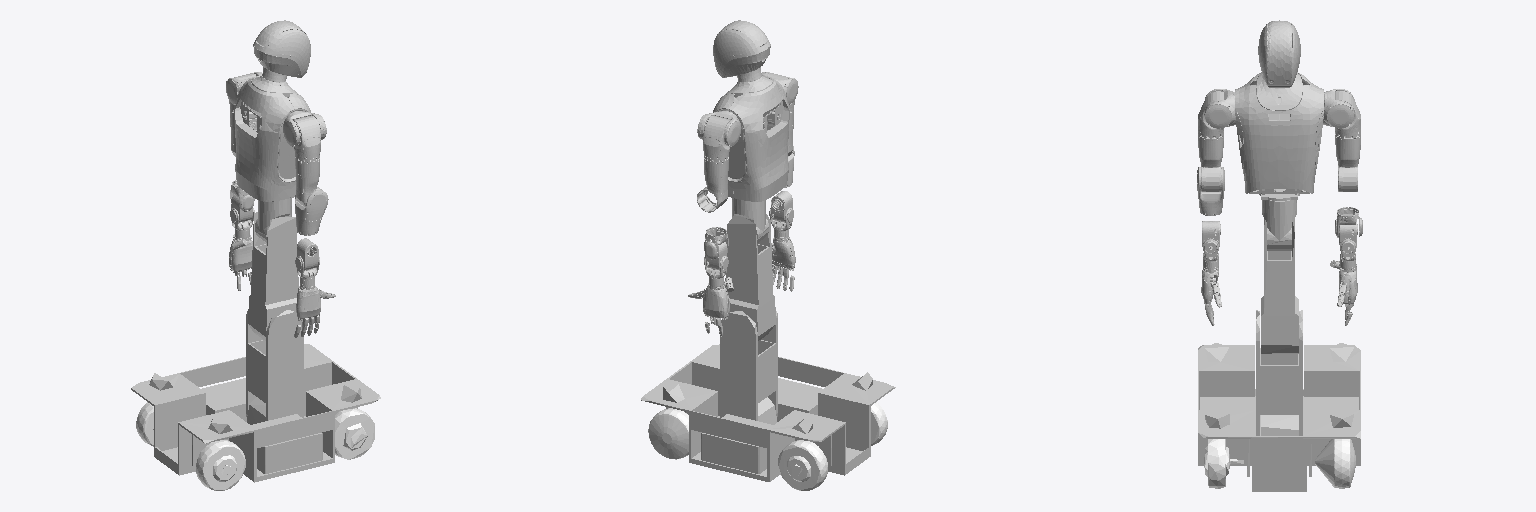
--- Render facts (derived) ---
Views: 3 orthographic renders of the robot side by side, from view 1: azimuth 30°, elevation 25°; view 2: azimuth 150°, elevation 25°; view 3: azimuth 270°, elevation 25°.
Model M92UW with 89 links and 88 joints (18 revolute, 70 fixed), rooted at base, posed all joints at 0.
Links seen in each view (by area): view 1: base_link, trunk_link, ankle_p_link, knee_p_link, head2_p_link, rb_wheel_link, rf_wheel_link, r_arm4_elbow_p_link, r_arm2_shoulder_r_link, r_arm3_shoulder_y_link, waist1_p_link, r_arm7_wrist_r_link (+2 smaller); view 2: base_link, trunk_link, ankle_p_link, knee_p_link, head2_p_link, lb_wheel_link, lf_wheel_link, l_arm3_shoulder_y_link, l_arm2_shoulder_r_link, l_arm7_wrist_r_link, waist1_p_link, l_arm1_shoulder_p_link (+2 smaller); view 3: base_link, trunk_link, knee_p_link, ankle_p_link, head2_p_link, lf_wheel_link, waist1_p_link, l_arm3_shoulder_y_link, r_arm3_shoulder_y_link, rf_wheel_link, r_arm1_shoulder_p_link, l_arm1_shoulder_p_link (+4 smaller).
Boxes of the visible links, x1=… form: base_link: x1=131, y1=344, x2=380, y2=482; trunk_link: x1=235, y1=76, x2=310, y2=201; ankle_p_link: x1=246, y1=310, x2=303, y2=420; knee_p_link: x1=248, y1=212, x2=298, y2=340; head2_p_link: x1=253, y1=20, x2=310, y2=77; rb_wheel_link: x1=196, y1=440, x2=245, y2=490; rf_wheel_link: x1=335, y1=408, x2=374, y2=459; r_arm4_elbow_p_link: x1=295, y1=190, x2=328, y2=235; r_arm2_shoulder_r_link: x1=293, y1=115, x2=320, y2=161; r_arm3_shoulder_y_link: x1=295, y1=158, x2=321, y2=207; waist1_p_link: x1=255, y1=198, x2=291, y2=242; r_arm7_wrist_r_link: x1=295, y1=256, x2=320, y2=319; base_link: x1=641, y1=344, x2=895, y2=481; trunk_link: x1=713, y1=76, x2=789, y2=201; ankle_p_link: x1=720, y1=311, x2=777, y2=420; knee_p_link: x1=725, y1=214, x2=775, y2=340; head2_p_link: x1=713, y1=20, x2=770, y2=77; lb_wheel_link: x1=778, y1=440, x2=827, y2=490; lf_wheel_link: x1=648, y1=408, x2=688, y2=459; l_arm3_shoulder_y_link: x1=697, y1=158, x2=728, y2=212; l_arm2_shoulder_r_link: x1=703, y1=116, x2=730, y2=161; l_arm7_wrist_r_link: x1=703, y1=256, x2=728, y2=319; waist1_p_link: x1=732, y1=198, x2=768, y2=242; l_arm1_shoulder_p_link: x1=697, y1=111, x2=740, y2=146; base_link: x1=1198, y1=343, x2=1360, y2=491; trunk_link: x1=1235, y1=72, x2=1323, y2=194; knee_p_link: x1=1261, y1=219, x2=1298, y2=353; ankle_p_link: x1=1256, y1=310, x2=1302, y2=435; head2_p_link: x1=1258, y1=20, x2=1300, y2=87; lf_wheel_link: x1=1315, y1=439, x2=1355, y2=488; waist1_p_link: x1=1262, y1=200, x2=1296, y2=250; l_arm3_shoulder_y_link: x1=1335, y1=134, x2=1360, y2=191; r_arm3_shoulder_y_link: x1=1198, y1=135, x2=1223, y2=191; rf_wheel_link: x1=1204, y1=439, x2=1243, y2=488; r_arm1_shoulder_p_link: x1=1204, y1=89, x2=1235, y2=128; l_arm1_shoulder_p_link: x1=1323, y1=89, x2=1354, y2=128.
Size in the robot's own frame: 0.8 by 0.609 by 1.8 metres.
49 mesh visuals loaded from 57 distinct referenced files (49 binary STL); not drawn: 8 (reference not matched to a file when rendering).

The robot description file, URDF, robot "M92UW":
<?xml version="1.0" ?>
<!-- =================================================================================== -->
<!-- |    This document was autogenerated by xacro from [local-path]/colcon_ws/src/human_description/robots/M92UW/M92UW.urdf.xacro | -->
<!-- |    EDITING THIS FILE BY HAND IS NOT RECOMMENDED                                 | -->
<!-- =================================================================================== -->
<robot name="M92UW">
  <link name="base"/>
  <joint name="base_fixed_joint" type="fixed">
    <parent link="base"/>
    <child link="base_link"/>
    <origin rpy="0 0 0" xyz="0 0 0"/>
  </joint>
  <link name="base_link">
    <visual name="base_link_vis">
      <geometry>
        <mesh filename="package://human_description/meshes/M92UW/visual/base_link.stl" scale="1e-3 1e-3 1e-3"/>
      </geometry>
      <material name="metal">
        <color rgba="0.85 0.85 0.85 1"/>
      </material>
    </visual>
    <collision name="base_link_col">
      <geometry>
        <mesh filename="package://human_description/meshes/M92UW/collision/base_link.stl" scale="1e-3 1e-3 1e-3"/>
      </geometry>
    </collision>
    <inertial>
      <origin rpy="0.0 0.0 0.0" xyz="0.013367658 0 -0.015095836"/>
      <mass value="74.786285"/>
      <inertia ixx="2.5701579" ixy="0" ixz="-0.015531692" iyy="2.4786102" iyz="0" izz="4.3899894"/>
    </inertial>
  </link>
  <link name="lf_wheel_link">
    <visual name="lf_wheel_link_vis">
      <geometry>
        <mesh filename="package://human_description/meshes/M92UW/visual/lf_wheel_link.stl" scale="1e-3 1e-3 1e-3"/>
      </geometry>
      <material name="carbon">
        <color rgba="1 1 1 1"/>
        <texture filename="package://human_description/textures/carbon.png"/>
      </material>
    </visual>
    <collision name="lf_wheel_link_col">
      <geometry>
        <mesh filename="package://human_description/meshes/M92UW/collision/lf_wheel_link.stl" scale="1e-3 1e-3 1e-3"/>
      </geometry>
    </collision>
    <inertial>
      <origin rpy="0.0 0.0 0.0" xyz="0 0.10966209 0"/>
      <mass value="1.1156517"/>
      <inertia ixx="0.0030579042" ixy="0" ixz="0" iyy="0.0050380481" iyz="0" izz="0.0030579069"/>
    </inertial>
  </link>
  <joint name="lf_wheel_joint" type="fixed">
    <parent link="base_link"/>
    <child link="lf_wheel_link"/>
    <origin rpy="0.0 0.0 0.0" xyz="0.29 0.12 -0.03"/>
    <axis xyz="0 1 0"/>
  </joint>
  <link name="lb_wheel_link">
    <visual name="lb_wheel_link_vis">
      <geometry>
        <mesh filename="package://human_description/meshes/M92UW/visual/lb_wheel_link.stl" scale="1e-3 1e-3 1e-3"/>
      </geometry>
      <material name="carbon">
        <color rgba="1 1 1 1"/>
        <texture filename="package://human_description/textures/carbon.png"/>
      </material>
    </visual>
    <collision name="lb_wheel_link_col">
      <geometry>
        <mesh filename="package://human_description/meshes/M92UW/collision/lb_wheel_link.stl" scale="1e-3 1e-3 1e-3"/>
      </geometry>
    </collision>
    <inertial>
      <origin rpy="0.0 0.0 0.0" xyz="0 0.10966209 0"/>
      <mass value="1.1156517"/>
      <inertia ixx="0.0030579042" ixy="0" ixz="0" iyy="0.0050380481" iyz="0" izz="0.0030579069"/>
    </inertial>
  </link>
  <joint name="lb_wheel_joint" type="fixed">
    <parent link="base_link"/>
    <child link="lb_wheel_link"/>
    <origin rpy="0.0 0.0 0.0" xyz="-0.29 0.12 -0.03"/>
    <axis xyz="0 1 0"/>
  </joint>
  <link name="rf_wheel_link">
    <visual name="rf_wheel_link_vis">
      <geometry>
        <mesh filename="package://human_description/meshes/M92UW/visual/rf_wheel_link.stl" scale="1e-3 1e-3 1e-3"/>
      </geometry>
      <material name="carbon">
        <color rgba="1 1 1 1"/>
        <texture filename="package://human_description/textures/carbon.png"/>
      </material>
    </visual>
    <collision name="rf_wheel_link_col">
      <geometry>
        <mesh filename="package://human_description/meshes/M92UW/collision/rf_wheel_link.stl" scale="1e-3 1e-3 1e-3"/>
      </geometry>
    </collision>
    <inertial>
      <origin rpy="0.0 0.0 0.0" xyz="0 -0.10966209 0"/>
      <mass value="1.1156517"/>
      <inertia ixx="0.0030579042" ixy="0" ixz="0" iyy="0.0050380481" iyz="0" izz="0.0030579069"/>
    </inertial>
  </link>
  <joint name="rf_wheel_joint" type="fixed">
    <parent link="base_link"/>
    <child link="rf_wheel_link"/>
    <origin rpy="0.0 0.0 0.0" xyz="0.29 -0.12 -0.03"/>
    <axis xyz="0 1 0"/>
  </joint>
  <link name="rb_wheel_link">
    <visual name="rb_wheel_link_vis">
      <geometry>
        <mesh filename="package://human_description/meshes/M92UW/visual/rb_wheel_link.stl" scale="1e-3 1e-3 1e-3"/>
      </geometry>
      <material name="carbon">
        <color rgba="1 1 1 1"/>
        <texture filename="package://human_description/textures/carbon.png"/>
      </material>
    </visual>
    <collision name="rb_wheel_link_col">
      <geometry>
        <mesh filename="package://human_description/meshes/M92UW/collision/rb_wheel_link.stl" scale="1e-3 1e-3 1e-3"/>
      </geometry>
    </collision>
    <inertial>
      <origin rpy="0.0 0.0 0.0" xyz="0 -0.10966209 0"/>
      <mass value="1.1156517"/>
      <inertia ixx="0.0030579042" ixy="0" ixz="0" iyy="0.0050380481" iyz="0" izz="0.0030579069"/>
    </inertial>
  </link>
  <joint name="rb_wheel_joint" type="fixed">
    <parent link="base_link"/>
    <child link="rb_wheel_link"/>
    <origin rpy="0.0 0.0 0.0" xyz="-0.29 -0.12 -0.03"/>
    <axis xyz="0 1 0"/>
  </joint>
  <link name="ankle_p_link">
    <visual name="ankle_p_link_vis">
      <geometry>
        <mesh filename="package://human_description/meshes/M92UW/visual/ankle_p_link.stl" scale="1e-3 1e-3 1e-3"/>
      </geometry>
      <material name="metal">
        <color rgba="0.85 0.85 0.85 1"/>
      </material>
    </visual>
    <collision name="ankle_p_link_col">
      <geometry>
        <mesh filename="package://human_description/meshes/M92UW/collision/ankle_p_link.stl" scale="1e-3 1e-3 1e-3"/>
      </geometry>
    </collision>
    <inertial>
      <origin rpy="0.0 0.0 0.0" xyz="0 0.00031353654 0.2"/>
      <mass value="5.0014729"/>
      <inertia ixx="0.12742424" ixy="0.0" ixz="0.0" iyy="0.11078527" iyz="0.0" izz="0.040523373"/>
    </inertial>
  </link>
  <joint name="ankle_p_joint" type="revolute">
    <parent link="base_link"/>
    <child link="ankle_p_link"/>
    <origin rpy="0.0 0.0 0.0" xyz="0.085 0.0 0.0"/>
    <axis xyz="0 1 0"/>
    <limit effort="436.0" lower="-1.5707963267948966" upper="0.05235987755982988" velocity="2.51"/>
    <safety_controller k_position="121.0" k_velocity="540.0" soft_lower_limit="-1.5184364492350666" soft_upper_limit="0.0"/>
    <dynamics damping="21.75" friction="3.48"/>
  </joint>
  <link name="knee_p_link">
    <visual name="knee_p_link_vis">
      <geometry>
        <mesh filename="package://human_description/meshes/M92UW/visual/knee_p_link.stl" scale="1e-3 1e-3 1e-3"/>
      </geometry>
      <material name="metal">
        <color rgba="0.85 0.85 0.85 1"/>
      </material>
    </visual>
    <collision name="knee_p_link_col">
      <geometry>
        <mesh filename="package://human_description/meshes/M92UW/collision/knee_p_link.stl" scale="1e-3 1e-3 1e-3"/>
      </geometry>
    </collision>
    <inertial>
      <origin rpy="0.0 0.0 0.0" xyz="-0.00017250466 -5.7499427e-05 0.091520826"/>
      <mass value="9.9995835"/>
      <inertia ixx="0.17718143" ixy="3.3078853e-07" ixz="0.00019537528" iyy="0.17966307" iyz="6.5114089e-05" izz="0.038209575"/>
    </inertial>
  </link>
  <joint name="knee_p_joint" type="revolute">
    <parent link="ankle_p_link"/>
    <child link="knee_p_link"/>
    <origin rpy="0.0 0.0 0.0" xyz="0.0 0.0 0.4"/>
    <axis xyz="0 1 0"/>
    <limit effort="436.0" lower="-0.05235987755982988" upper="2.7768188399229783" velocity="2.51"/>
    <safety_controller k_position="121.0" k_velocity="540.0" soft_lower_limit="0.0" soft_upper_limit="2.724458962363148"/>
    <dynamics damping="21.75" friction="3.48"/>
  </joint>
  <link name="waist1_p_link">
    <visual name="waist1_p_link_vis">
      <geometry>
        <mesh filename="package://human_description/meshes/M92UW/visual/waist1_p_link.stl" scale="1e-3 1e-3 1e-3"/>
      </geometry>
      <material name="metal">
        <color rgba="0.85 0.85 0.85 1"/>
      </material>
    </visual>
    <collision name="waist1_p_link_col">
      <geometry>
        <mesh filename="package://human_description/meshes/M92UW/collision/waist1_p_link.stl" scale="1e-3 1e-3 1e-3"/>
      </geometry>
    </collision>
    <inertial>
      <origin rpy="0.0 0.0 0.0" xyz="0 0 0.057429778"/>
      <mass value="6.3049221"/>
      <inertia ixx="0.029907033" ixy="0" ixz="0" iyy="0.031745346" iyz="0" izz="0.012330906"/>
    </inertial>
  </link>
  <joint name="waist1_p_joint" type="revolute">
    <parent link="knee_p_link"/>
    <child link="waist1_p_link"/>
    <origin rpy="0.0 0.0 0.0" xyz="0.0 0.0 0.4"/>
    <axis xyz="0 1 0"/>
    <limit effort="207.0" lower="-2.2689280275926285" upper="2.2689280275926285" velocity="3.14"/>
    <safety_controller k_position="121.0" k_velocity="540.0" soft_lower_limit="-2.2165681500327987" soft_upper_limit="2.2165681500327987"/>
    <dynamics damping="21.75" friction="3.48"/>
  </joint>
  <link name="waist2_y_link">
    <visual name="waist2_y_link_vis">
      <geometry>
        <mesh filename="package://human_description/meshes/M92UW/visual/waist2_y_link.stl" scale="1e-3 1e-3 1e-3"/>
      </geometry>
      <material name="metal">
        <color rgba="0.85 0.85 0.85 1"/>
      </material>
    </visual>
    <collision name="waist2_y_link_col">
      <geometry>
        <mesh filename="package://human_description/meshes/M92UW/collision/waist2_y_link.stl" scale="1e-3 1e-3 1e-3"/>
      </geometry>
    </collision>
    <inertial>
      <origin rpy="0.0 0.0 0.0" xyz="0 0 0.17307869"/>
      <mass value="0.70904416"/>
      <inertia ixx="0.0010443308" ixy="0" ixz="0" iyy="0.0010443307" iyz="0" izz="0.002054833"/>
    </inertial>
  </link>
  <joint name="waist2_y_joint" type="revolute">
    <parent link="waist1_p_link"/>
    <child link="waist2_y_link"/>
    <origin rpy="0.0 0.0 0.0" xyz="0.0 0.0 0.0"/>
    <axis xyz="0 0 1"/>
    <limit effort="207.0" lower="-1.5707963267948966" upper="1.5707963267948966" velocity="3.14"/>
    <safety_controller k_position="121.0" k_velocity="540.0" soft_lower_limit="-1.5184364492350666" soft_upper_limit="1.5184364492350666"/>
    <dynamics damping="21.75" friction="3.48"/>
  </joint>
  <link name="trunk_link">
    <visual name="trunk_link_vis">
      <geometry>
        <mesh filename="package://human_description/meshes/M92UW/visual/trunk_link.stl" scale="1e-3 1e-3 1e-3"/>
      </geometry>
      <material name="metal">
        <color rgba="0.85 0.85 0.85 1"/>
      </material>
    </visual>
    <collision name="trunk_link_col">
      <geometry>
        <mesh filename="package://human_description/meshes/M92UW/collision/trunk_link.stl" scale="1e-3 1e-3 1e-3"/>
      </geometry>
    </collision>
    <inertial>
      <origin rpy="0.0 0.0 0.0" xyz="-0.0085487881 -9.606895e-06 -0.077759044"/>
      <mass value="12.350557"/>
      <inertia ixx="0.35316138" ixy="-1.0848429e-05" ixz="-0.010659045" iyy="0.26640983" iyz="8.9227842e-06" izz="0.20173237"/>
    </inertial>
  </link>
  <joint name="trunk_fixed_joint" type="fixed">
    <parent link="waist2_y_link"/>
    <child link="trunk_link"/>
    <origin rpy="0.0 0.0 0.0" xyz="0.0 0.0 0.510000061"/>
    <axis xyz="0 0 1"/>
  </joint>
  <link name="head1_y_link">
    <visual name="head1_y_link_vis">
      <geometry>
        <mesh filename="package://human_description/meshes/M92UW/visual/head1_y_link.stl" scale="1e-3 1e-3 1e-3"/>
      </geometry>
      <material name="metal">
        <color rgba="0.85 0.85 0.85 1"/>
      </material>
    </visual>
    <collision name="head1_y_link_col">
      <geometry>
        <mesh filename="package://human_description/meshes/M92UW/collision/head1_y_link.stl" scale="1e-3 1e-3 1e-3"/>
      </geometry>
    </collision>
    <inertial>
      <origin rpy="0.0 0.0 0.0" xyz="0 0 0"/>
      <mass value="0.9701721487615899"/>
      <inertia ixx="0.002353602425794535" ixy="-1.5047554446877549e-06" ixz="9.720103999911807e-07" iyy="0.0023108930597505323" iyz="-5.8260809010239775e-05" izz="0.0008192659356165283"/>
    </inertial>
  </link>
  <joint name="head1_y_joint" type="fixed">
    <parent link="trunk_link"/>
    <child link="head1_y_link"/>
    <origin rpy="0.0 0.227 0.0" xyz="0.00825076246 0.0 0.187487518331"/>
    <axis xyz="0 0 1"/>
  </joint>
  <link name="head2_p_link">
    <visual name="head2_p_link_vis">
      <geometry>
        <mesh filename="package://human_description/meshes/M92UW/visual/head2_p_link.stl" scale="1e-3 1e-3 1e-3"/>
      </geometry>
      <material name="metal">
        <color rgba="0.85 0.85 0.85 1"/>
      </material>
    </visual>
    <collision name="head2_p_link_col">
      <geometry>
        <mesh filename="package://human_description/meshes/M92UW/collision/head2_p_link.stl" scale="1e-3 1e-3 1e-3"/>
      </geometry>
    </collision>
    <inertial>
      <origin rpy="0.0 0.0 0.0" xyz="0.023983628 -3.4088057e-05 0.060004983"/>
      <mass value="1.4412722"/>
      <inertia ixx="0.0051107798" ixy="-5.4733507e-05" ixz="0.001174679" iyy="0.0074364813" iyz="3.6514141e-05" izz="0.0066131559"/>
    </inertial>
  </link>
  <joint name="head2_p_joint" type="fixed">
    <parent link="head1_y_link"/>
    <child link="head2_p_link"/>
    <origin rpy="0.0 0.0 0.0" xyz="0.0 0.0 0.0"/>
    <axis xyz="0 1 0"/>
  </joint>
  <link name="l_arm1_shoulder_p_link">
    <visual name="l_arm1_shoulder_p_link_vis">
      <geometry>
        <mesh filename="package://human_description/meshes/M92UW/visual/l_arm1_shoulder_p_link.stl" scale="1e-3 1e-3 1e-3"/>
      </geometry>
      <material name="metal">
        <color rgba="0.85 0.85 0.85 1"/>
      </material>
    </visual>
    <collision name="l_arm1_shoulder_p_link_col">
      <geometry>
        <mesh filename="package://human_description/meshes/M92UW/collision/l_arm1_shoulder_p_link.stl" scale="1e-3 1e-3 1e-3"/>
      </geometry>
    </collision>
    <inertial>
      <origin rpy="0.0 0.0 0.0" xyz="0.008950692823963513 -0.007910244340673698 0.001047817615140858"/>
      <mass value="2.347873199255413"/>
      <inertia ixx="0.00371805577636075" ixy="-0.00020375534708451775" ixz="3.609106173368525e-05" iyy="0.004459283172641818" iyz="5.624647211110556e-05" izz="0.004925669991342847"/>
    </inertial>
  </link>
  <joint name="l_arm1_shoulder_p_joint" type="revolute">
    <parent link="trunk_link"/>
    <child link="l_arm1_shoulder_p_link"/>
    <origin rpy="0.0 0.0 0.0" xyz="0.0 0.225 0.0"/>
    <axis xyz="0 1 0"/>
    <limit effort="107.0" lower="-3.141592653589793" upper="1.0000736613927508" velocity="3.9"/>
    <safety_controller k_position="121.0" k_velocity="540.0" soft_lower_limit="-3.0892327760299634" soft_upper_limit="0.9477137838329208"/>
    <dynamics damping="21.75" friction="3.48"/>
  </joint>
  <link name="l_arm2_shoulder_r_link">
    <visual name="l_arm2_shoulder_r_link_vis">
      <geometry>
        <mesh filename="package://human_description/meshes/M92UW/visual/l_arm2_shoulder_r_link.stl" scale="1e-3 1e-3 1e-3"/>
      </geometry>
      <material name="metal">
        <color rgba="0.85 0.85 0.85 1"/>
      </material>
    </visual>
    <collision name="l_arm2_shoulder_r_link_col">
      <geometry>
        <mesh filename="package://human_description/meshes/M92UW/collision/l_arm2_shoulder_r_link.stl" scale="1e-3 1e-3 1e-3"/>
      </geometry>
    </collision>
    <inertial>
      <origin rpy="0.0 0.0 0.0" xyz="0.00036305191629661246 0.011843042908443239 -0.03652190992211854"/>
      <mass value="0.752587840927864"/>
      <inertia ixx="0.0026036114569122793" ixy="8.592053527867745e-06" ixz="1.6856075010420394e-05" iyy="0.0024594847856526784" iyz="0.0002802648051565737" izz="0.0016631005538151674"/>
    </inertial>
  </link>
  <joint name="l_arm2_shoulder_r_joint" type="revolute">
    <parent link="l_arm1_shoulder_p_link"/>
    <child link="l_arm2_shoulder_r_link"/>
    <origin rpy="0.0 0.0 0.0" xyz="0.0 0.0 0.0"/>
    <axis xyz="1 0 0"/>
    <limit effort="107.0" lower="-0.5235987755982988" upper="1.5707963267948966" velocity="3.9"/>
    <safety_controller k_position="121.0" k_velocity="540.0" soft_lower_limit="-0.47123889803846897" soft_upper_limit="1.5184364492350666"/>
    <dynamics damping="21.75" friction="3.48"/>
  </joint>
  <link name="l_arm3_shoulder_y_link">
    <visual name="l_arm3_shoulder_y_link_vis">
      <geometry>
        <mesh filename="package://human_description/meshes/M92UW/visual/l_arm3_shoulder_y_link.stl" scale="1e-3 1e-3 1e-3"/>
      </geometry>
      <material name="metal">
        <color rgba="0.85 0.85 0.85 1"/>
      </material>
    </visual>
    <collision name="l_arm3_shoulder_y_link_col">
      <geometry>
        <mesh filename="package://human_description/meshes/M92UW/collision/l_arm3_shoulder_y_link.stl" scale="1e-3 1e-3 1e-3"/>
      </geometry>
    </collision>
    <inertial>
      <origin rpy="0.0 0.0 0.0" xyz="0.009483721082429376 0.0009283823410288751 0.07220283077817466"/>
      <mass value="2.8032226973946757"/>
      <inertia ixx="0.01709273409680172" ixy="-3.1041493444281146e-05" ixz="0.0018537887840343332" iyy="0.017612642148909542" iyz="0.00017830759281331393" izz="0.003132408910489035"/>
    </inertial>
  </link>
  <joint name="l_arm3_shoulder_y_joint" type="revolute">
    <parent link="l_arm2_shoulder_r_link"/>
    <child link="l_arm3_shoulder_y_link"/>
    <origin rpy="0.0 0.0 0.0" xyz="0.0 0.0275 -0.28"/>
    <axis xyz="0 0 1"/>
    <limit effort="70.0" lower="-3.139847324337799" upper="3.139847324337799" velocity="3.8"/>
    <safety_controller k_position="121.0" k_velocity="540.0" soft_lower_limit="-3.087487446777969" soft_upper_limit="3.087487446777969"/>
    <dynamics damping="21.75" friction="3.48"/>
  </joint>
  <link name="l_arm4_elbow_p_link">
    <visual name="l_arm4_elbow_p_link_vis">
      <geometry>
        <mesh filename="package://human_description/meshes/M92UW/visual/l_arm4_elbow_p_link.stl" scale="1e-3 1e-3 1e-3"/>
      </geometry>
      <material name="metal">
        <color rgba="0.85 0.85 0.85 1"/>
      </material>
    </visual>
    <collision name="l_arm4_elbow_p_link_col">
      <geometry>
        <mesh filename="package://human_description/meshes/M92UW/collision/l_arm4_elbow_p_link.stl" scale="1e-3 1e-3 1e-3"/>
      </geometry>
    </collision>
    <inertial>
      <origin rpy="0.0 0.0 0.0" xyz="-0.016878859016134812 -0.002424599482891291 -0.08347296858171128"/>
      <mass value="1.4951436605879314"/>
      <inertia ixx="0.004293550118219109" ixy="4.3192250569185595e-05" ixz="-0.0003401699176851234" iyy="0.004009022454595748" iyz="0.00022976670691615358" izz="0.0019433761729977456"/>
    </inertial>
  </link>
  <joint name="l_arm4_elbow_p_joint" type="revolute">
    <parent link="l_arm3_shoulder_y_link"/>
    <child link="l_arm4_elbow_p_link"/>
    <origin rpy="0.0 0.0 0.0" xyz="0.02 0.0 0.0"/>
    <axis xyz="0 1 0"/>
    <limit effort="70.0" lower="-2.6162485487394997" upper="0.05235987755982988" velocity="3.8"/>
    <safety_controller k_position="121.0" k_velocity="540.0" soft_lower_limit="-2.5638886711796705" soft_upper_limit="0.0"/>
    <dynamics damping="21.75" friction="3.48"/>
  </joint>
  <link name="l_arm5_wrist_y_link">
    <visual name="l_arm5_wrist_y_link_vis">
      <geometry>
        <mesh filename="package://human_description/meshes/M92UW/visual/l_arm5_wrist_y_link.stl" scale="1e-3 1e-3 1e-3"/>
      </geometry>
      <material name="metal">
        <color rgba="0.85 0.85 0.85 1"/>
      </material>
    </visual>
    <collision name="l_arm5_wrist_y_link_col">
      <geometry>
        <mesh filename="package://human_description/meshes/M92UW/collision/l_arm5_wrist_y_link.stl" scale="1e-3 1e-3 1e-3"/>
      </geometry>
    </collision>
    <inertial>
      <origin rpy="0.0 0.0 0.0" xyz="1.0105403425632446e-05 -0.0007920766777345156 0.033467755020747975"/>
      <mass value="0.27226645693469925"/>
      <inertia ixx="0.00042677981237483024" ixy="1.5635914930696041e-07" ixz="-8.511440415016232e-08" iyy="0.00029281147887157377" iyz="-2.9845719981923703e-05" izz="0.0003716353641820523"/>
    </inertial>
  </link>
  <joint name="l_arm5_wrist_y_joint" type="revolute">
    <parent link="l_arm4_elbow_p_link"/>
    <child link="l_arm5_wrist_y_link"/>
    <origin rpy="0.0 0.0 0.0" xyz="-0.02 0.0 -0.213"/>
    <axis xyz="0 0 1"/>
    <limit effort="36.0" lower="-3.141592653589793" upper="3.141592653589793" velocity="4.3"/>
    <safety_controller k_position="121.0" k_velocity="540.0" soft_lower_limit="-3.0892327760299634" soft_upper_limit="3.0892327760299634"/>
    <dynamics damping="21.75" friction="3.48"/>
  </joint>
  <link name="l_arm6_wrist_p_link">
    <visual name="l_arm6_wrist_p_link_vis">
      <geometry>
        <mesh filename="package://human_description/meshes/M92UW/visual/l_arm6_wrist_p_link.stl" scale="1e-3 1e-3 1e-3"/>
      </geometry>
      <material name="metal">
        <color rgba="0.85 0.85 0.85 1"/>
      </material>
    </visual>
    <collision name="l_arm6_wrist_p_link_col">
      <geometry>
        <mesh filename="package://human_description/meshes/M92UW/collision/l_arm6_wrist_p_link.stl" scale="1e-3 1e-3 1e-3"/>
      </geometry>
    </collision>
    <inertial>
      <origin rpy="0.0 0.0 0.0" xyz="-0.0023977486620611805 0.0032941533904827926 -0.02747107099422101"/>
      <mass value="0.8769025437478114"/>
      <inertia ixx="0.0011344037552627772" ixy="-5.74262388435353e-06" ixz="-5.7053004228770495e-05" iyy="0.0011212906698454524" iyz="-8.099881421779838e-05" izz="0.0005394058553208015"/>
    </inertial>
  </link>
  <joint name="l_arm6_wrist_p_joint" type="revolute">
    <parent link="l_arm5_wrist_y_link"/>
    <child link="l_arm6_wrist_p_link"/>
    <origin rpy="0.0 0.0 0.0" xyz="0.0 0.0 0.0"/>
    <axis xyz="0 1 0"/>
    <limit effort="15.0" lower="-1.3962634015954636" upper="1.3962634015954636" velocity="7.7"/>
    <safety_controller k_position="121.0" k_velocity="540.0" soft_lower_limit="-1.3439035240356338" soft_upper_limit="1.3439035240356338"/>
    <dynamics damping="21.75" friction="3.48"/>
  </joint>
  <link name="l_arm7_wrist_r_link">
    <visual name="l_arm7_wrist_r_link_vis">
      <geometry>
        <mesh filename="package://human_description/meshes/M92UW/visual/l_arm7_wrist_r_link.stl" scale="1e-3 1e-3 1e-3"/>
      </geometry>
      <material name="metal">
        <color rgba="0.85 0.85 0.85 1"/>
      </material>
    </visual>
    <collision name="l_arm7_wrist_r_link_col">
      <geometry>
        <mesh filename="package://human_description/meshes/M92UW/collision/l_arm7_wrist_r_link.stl" scale="1e-3 1e-3 1e-3"/>
      </geometry>
    </collision>
    <inertial>
      <origin rpy="0.0 0.0 0.0" xyz="0.005628948451189553 -0.0002631286864539303 -0.13713379318786653"/>
      <mass value="1.1182834022922525"/>
      <inertia ixx="0.00054013059" ixy="-3.4201381e-06" ixz="1.2981479e-05" iyy="0.00040641427" iyz="-1.619246e-05" izz="0.0002867356"/>
    </inertial>
  </link>
  <joint name="l_arm7_wrist_r_joint" type="revolute">
    <parent link="l_arm6_wrist_p_link"/>
    <child link="l_arm7_wrist_r_link"/>
    <origin rpy="0.0 0.0 0.0" xyz="0.0 0.0 -0.055"/>
    <axis xyz="1 0 0"/>
    <limit effort="15.0" lower="-1.3962634015954636" upper="1.3962634015954636" velocity="7.7"/>
    <safety_controller k_position="121.0" k_velocity="540.0" soft_lower_limit="-1.3439035240356338" soft_upper_limit="1.3439035240356338"/>
    <dynamics damping="21.75" friction="3.48"/>
  </joint>
  <link name="l_arm_force_sensor_link">
    <visual name="l_arm_force_sensor_link_vis">
      <geometry>
        <mesh filename="package://human_description/meshes/M92UW/visual/l_arm_force_sensor_link.stl" scale="1e-3 1e-3 1e-3"/>
      </geometry>
      <material name="metal">
        <color rgba="0.85 0.85 0.85 1"/>
      </material>
    </visual>
    <collision name="l_arm_force_sensor_link_col">
      <geometry>
        <mesh filename="package://human_description/meshes/M92UW/collision/l_arm_force_sensor_link.stl" scale="1e-3 1e-3 1e-3"/>
      </geometry>
    </collision>
    <inertial>
      <origin rpy="0.0 0.0 0.0" xyz="-3.6099554e-06 0.00010782379 -0.01796209"/>
      <mass value="0.18791729"/>
      <inertia ixx="6.7718362e-05" ixy="-8.1094726e-09" ixz="-1.4043436e-08" iyy="6.769248e-05" iyz="-8.3150825e-08" izz="9.1033288e-05"/>
    </inertial>
  </link>
  <joint name="l_arm_force_sensor_fixed_joint" type="fixed">
    <parent link="l_arm7_wrist_r_link"/>
    <child link="l_arm_force_sensor_link"/>
    <origin rpy="0.0 0.0 0.0" xyz="0.0 0.0 -0.06"/>
    <axis xyz="0 0 1"/>
  </joint>
  <link name="l_end_effector_frame"/>
  <joint name="l_end_effector_fixed_joint" type="fixed">
    <parent link="l_arm_force_sensor_link"/>
    <child link="l_end_effector_frame"/>
    <origin rpy="0 1.5707963 0" xyz="0 0 -0.1784999"/>
    <axis xyz="0 0 1"/>
  </joint>
  <link name="r_arm1_shoulder_p_link">
    <visual name="r_arm1_shoulder_p_link_vis">
      <geometry>
        <mesh filename="package://human_description/meshes/M92UW/visual/r_arm1_shoulder_p_link.stl" scale="1e-3 1e-3 1e-3"/>
      </geometry>
      <material name="metal">
        <color rgba="0.85 0.85 0.85 1"/>
      </material>
    </visual>
    <collision name="r_arm1_shoulder_p_link_col">
      <geometry>
        <mesh filename="package://human_description/meshes/M92UW/collision/r_arm1_shoulder_p_link.stl" scale="1e-3 1e-3 1e-3"/>
      </geometry>
    </collision>
    <inertial>
      <origin rpy="0.0 0.0 0.0" xyz="0.008950692823963513 0.007910244340673698 0.001047817615140858"/>
      <mass value="2.347873199255413"/>
      <inertia ixx="0.00371805577636075" ixy="0.00020375534708451775" ixz="3.609106173368525e-05" iyy="0.004459283172641818" iyz="-5.624647211110556e-05" izz="0.004925669991342847"/>
    </inertial>
  </link>
  <joint name="r_arm1_shoulder_p_joint" type="revolute">
    <parent link="trunk_link"/>
    <child link="r_arm1_shoulder_p_link"/>
    <origin rpy="0.0 0.0 0.0" xyz="0.0 -0.225 0.0"/>
    <axis xyz="0 1 0"/>
    <limit effort="107.0" lower="-3.141592653589793" upper="1.0000736613927508" velocity="3.9"/>
    <safety_controller k_position="121.0" k_velocity="540.0" soft_lower_limit="-3.0892327760299634" soft_upper_limit="0.9477137838329208"/>
    <dynamics damping="21.75" friction="3.48"/>
  </joint>
  <link name="r_arm2_shoulder_r_link">
    <visual name="r_arm2_shoulder_r_link_vis">
      <geometry>
        <mesh filename="package://human_description/meshes/M92UW/visual/r_arm2_shoulder_r_link.stl" scale="1e-3 1e-3 1e-3"/>
      </geometry>
      <material name="metal">
        <color rgba="0.85 0.85 0.85 1"/>
      </material>
    </visual>
    <collision name="r_arm2_shoulder_r_link_col">
      <geometry>
        <mesh filename="package://human_description/meshes/M92UW/collision/r_arm2_shoulder_r_link.stl" scale="1e-3 1e-3 1e-3"/>
      </geometry>
    </collision>
    <inertial>
      <origin rpy="0.0 0.0 0.0" xyz="0.00036305191629661246 -0.011843042908443239 -0.03652190992211854"/>
      <mass value="0.752587840927864"/>
      <inertia ixx="0.0026036114569122793" ixy="-8.592053527867745e-06" ixz="1.6856075010420394e-05" iyy="0.0024594847856526784" iyz="-0.0002802648051565737" izz="0.0016631005538151674"/>
    </inertial>
  </link>
  <joint name="r_arm2_shoulder_r_joint" type="revolute">
    <parent link="r_arm1_shoulder_p_link"/>
    <child link="r_arm2_shoulder_r_link"/>
    <origin rpy="0.0 0.0 0.0" xyz="0.0 0.0 0.0"/>
    <axis xyz="1 0 0"/>
    <limit effort="107.0" lower="-1.5707963267948966" upper="0.5235987755982988" velocity="3.9"/>
    <safety_controller k_position="121.0" k_velocity="540.0" soft_lower_limit="-1.5184364492350666" soft_upper_limit="0.47123889803846897"/>
    <dynamics damping="21.75" friction="3.48"/>
  </joint>
  <link name="r_arm3_shoulder_y_link">
    <visual name="r_arm3_shoulder_y_link_vis">
      <geometry>
        <mesh filename="package://human_description/meshes/M92UW/visual/r_arm3_shoulder_y_link.stl" scale="1e-3 1e-3 1e-3"/>
      </geometry>
      <material name="metal">
        <color rgba="0.85 0.85 0.85 1"/>
      </material>
    </visual>
    <collision name="r_arm3_shoulder_y_link_col">
      <geometry>
        <mesh filename="package://human_description/meshes/M92UW/collision/r_arm3_shoulder_y_link.stl" scale="1e-3 1e-3 1e-3"/>
      </geometry>
    </collision>
    <inertial>
      <origin rpy="0.0 0.0 0.0" xyz="0.009483721082429376 -0.0009283823410288751 0.07220283077817466"/>
      <mass value="2.8032226973946757"/>
      <inertia ixx="0.01709273409680172" ixy="3.1041493444281146e-05" ixz="0.0018537887840343332" iyy="0.017612642148909542" iyz="-0.00017830759281331393" izz="0.003132408910489035"/>
    </inertial>
  </link>
  <joint name="r_arm3_shoulder_y_joint" type="revolute">
    <parent link="r_arm2_shoulder_r_link"/>
    <child link="r_arm3_shoulder_y_link"/>
    <origin rpy="0.0 0.0 0.0" xyz="0.0 -0.0275 -0.28"/>
    <axis xyz="0 0 1"/>
    <limit effort="70.0" lower="-3.139847324337799" upper="3.139847324337799" velocity="3.8"/>
    <safety_controller k_position="121.0" k_velocity="540.0" soft_lower_limit="-3.087487446777969" soft_upper_limit="3.087487446777969"/>
    <dynamics damping="21.75" friction="3.48"/>
  </joint>
  <link name="r_arm4_elbow_p_link">
    <visual name="r_arm4_elbow_p_link_vis">
      <geometry>
        <mesh filename="package://human_description/meshes/M92UW/visual/r_arm4_elbow_p_link.stl" scale="1e-3 1e-3 1e-3"/>
      </geometry>
      <material name="metal">
        <color rgba="0.85 0.85 0.85 1"/>
      </material>
    </visual>
    <collision name="r_arm4_elbow_p_link_col">
      <geometry>
        <mesh filename="package://human_description/meshes/M92UW/collision/r_arm4_elbow_p_link.stl" scale="1e-3 1e-3 1e-3"/>
      </geometry>
    </collision>
    <inertial>
      <origin rpy="0.0 0.0 0.0" xyz="-0.016878859016134812 0.002424599482891291 -0.08347296858171128"/>
      <mass value="1.4951436605879314"/>
      <inertia ixx="0.004293550118219109" ixy="-4.3192250569185595e-05" ixz="-0.0003401699176851234" iyy="0.004009022454595748" iyz="-0.00022976670691615358" izz="0.0019433761729977456"/>
    </inertial>
  </link>
  <joint name="r_arm4_elbow_p_joint" type="revolute">
    <parent link="r_arm3_shoulder_y_link"/>
    <child link="r_arm4_elbow_p_link"/>
    <origin rpy="0.0 0.0 0.0" xyz="0.02 0.0 0.0"/>
    <axis xyz="0 1 0"/>
    <limit effort="70.0" lower="-2.6162485487394997" upper="0.05235987755982988" velocity="3.8"/>
    <safety_controller k_position="121.0" k_velocity="540.0" soft_lower_limit="-2.5638886711796705" soft_upper_limit="0.0"/>
    <dynamics damping="21.75" friction="3.48"/>
  </joint>
  <link name="r_arm5_wrist_y_link">
    <visual name="r_arm5_wrist_y_link_vis">
      <geometry>
        <mesh filename="package://human_description/meshes/M92UW/visual/r_arm5_wrist_y_link.stl" scale="1e-3 1e-3 1e-3"/>
      </geometry>
      <material name="metal">
        <color rgba="0.85 0.85 0.85 1"/>
      </material>
    </visual>
    <collision name="r_arm5_wrist_y_link_col">
      <geometry>
        <mesh filename="package://human_description/meshes/M92UW/collision/r_arm5_wrist_y_link.stl" scale="1e-3 1e-3 1e-3"/>
      </geometry>
    </collision>
    <inertial>
      <origin rpy="0.0 0.0 0.0" xyz="1.0105403425632446e-05 0.0007920766777345156 0.033467755020747975"/>
      <mass value="0.27226645693469925"/>
      <inertia ixx="0.00042677981237483024" ixy="-1.5635914930696041e-07" ixz="-8.511440415016232e-08" iyy="0.00029281147887157377" iyz="2.9845719981923703e-05" izz="0.0003716353641820523"/>
    </inertial>
  </link>
  <joint name="r_arm5_wrist_y_joint" type="revolute">
    <parent link="r_arm4_elbow_p_link"/>
    <child link="r_arm5_wrist_y_link"/>
    <origin rpy="0.0 0.0 0.0" xyz="-0.02 0.0 -0.213"/>
    <axis xyz="0 0 1"/>
    <limit effort="36.0" lower="-3.141592653589793" upper="3.141592653589793" velocity="4.3"/>
    <safety_controller k_position="121.0" k_velocity="540.0" soft_lower_limit="-3.0892327760299634" soft_upper_limit="3.0892327760299634"/>
    <dynamics damping="21.75" friction="3.48"/>
  </joint>
  <link name="r_arm6_wrist_p_link">
    <visual name="r_arm6_wrist_p_link_vis">
      <geometry>
        <mesh filename="package://human_description/meshes/M92UW/visual/r_arm6_wrist_p_link.stl" scale="1e-3 1e-3 1e-3"/>
      </geometry>
      <material name="metal">
        <color rgba="0.85 0.85 0.85 1"/>
      </material>
    </visual>
    <collision name="r_arm6_wrist_p_link_col">
      <geometry>
        <mesh filename="package://human_description/meshes/M92UW/collision/r_arm6_wrist_p_link.stl" scale="1e-3 1e-3 1e-3"/>
      </geometry>
    </collision>
    <inertial>
      <origin rpy="0.0 0.0 0.0" xyz="-0.0023977486620611805 -0.0032941533904827926 -0.02747107099422101"/>
      <mass value="0.8769025437478114"/>
      <inertia ixx="0.0011344037552627772" ixy="5.74262388435353e-06" ixz="-5.7053004228770495e-05" iyy="0.0011212906698454524" iyz="8.099881421779838e-05" izz="0.0005394058553208015"/>
    </inertial>
  </link>
  <joint name="r_arm6_wrist_p_joint" type="revolute">
    <parent link="r_arm5_wrist_y_link"/>
    <child link="r_arm6_wrist_p_link"/>
    <origin rpy="0.0 0.0 0.0" xyz="0.0 0.0 0.0"/>
    <axis xyz="0 1 0"/>
    <limit effort="15.0" lower="-1.3962634015954636" upper="1.3962634015954636" velocity="7.7"/>
    <safety_controller k_position="121.0" k_velocity="540.0" soft_lower_limit="-1.3439035240356338" soft_upper_limit="1.3439035240356338"/>
    <dynamics damping="21.75" friction="3.48"/>
  </joint>
  <link name="r_arm7_wrist_r_link">
    <visual name="r_arm7_wrist_r_link_vis">
      <geometry>
        <mesh filename="package://human_description/meshes/M92UW/visual/r_arm7_wrist_r_link.stl" scale="1e-3 1e-3 1e-3"/>
      </geometry>
      <material name="metal">
        <color rgba="0.85 0.85 0.85 1"/>
      </material>
    </visual>
    <collision name="r_arm7_wrist_r_link_col">
      <geometry>
        <mesh filename="package://human_description/meshes/M92UW/collision/r_arm7_wrist_r_link.stl" scale="1e-3 1e-3 1e-3"/>
      </geometry>
    </collision>
    <inertial>
      <origin rpy="0.0 0.0 0.0" xyz="0.005628948451189553 0.0002631286864539303 -0.13713379318786653"/>
      <mass value="1.1182834022922525"/>
      <inertia ixx="0.00054013059" ixy="3.4201381e-06" ixz="1.2981479e-05" iyy="0.00040641427" iyz="1.619246e-05" izz="0.0002867356"/>
    </inertial>
  </link>
  <joint name="r_arm7_wrist_r_joint" type="revolute">
    <parent link="r_arm6_wrist_p_link"/>
    <child link="r_arm7_wrist_r_link"/>
    <origin rpy="0.0 0.0 0.0" xyz="0.0 0.0 -0.055"/>
    <axis xyz="1 0 0"/>
    <limit effort="15.0" lower="-1.3962634015954636" upper="1.3962634015954636" velocity="7.7"/>
    <safety_controller k_position="121.0" k_velocity="540.0" soft_lower_limit="-1.3439035240356338" soft_upper_limit="1.3439035240356338"/>
    <dynamics damping="21.75" friction="3.48"/>
  </joint>
  <link name="r_arm_force_sensor_link">
    <visual name="r_arm_force_sensor_link_vis">
      <geometry>
        <mesh filename="package://human_description/meshes/M92UW/visual/r_arm_force_sensor_link.stl" scale="1e-3 1e-3 1e-3"/>
      </geometry>
      <material name="metal">
        <color rgba="0.85 0.85 0.85 1"/>
      </material>
    </visual>
    <collision name="r_arm_force_sensor_link_col">
      <geometry>
        <mesh filename="package://human_description/meshes/M92UW/collision/r_arm_force_sensor_link.stl" scale="1e-3 1e-3 1e-3"/>
      </geometry>
    </collision>
    <inertial>
      <origin rpy="0.0 0.0 0.0" xyz="-3.6099554e-06 -0.00010782379 -0.01796209"/>
      <mass value="0.18791729"/>
      <inertia ixx="6.7718362e-05" ixy="8.1094726e-09" ixz="-1.4043436e-08" iyy="6.769248e-05" iyz="8.3150825e-08" izz="9.1033288e-05"/>
    </inertial>
  </link>
  <joint name="r_arm_force_sensor_fixed_joint" type="fixed">
    <parent link="r_arm7_wrist_r_link"/>
    <child link="r_arm_force_sensor_link"/>
    <origin rpy="0.0 0.0 0.0" xyz="0.0 0.0 -0.06"/>
    <axis xyz="0 0 1"/>
  </joint>
  <link name="r_end_effector_frame"/>
  <joint name="r_end_effector_fixed_joint" type="fixed">
    <parent link="r_arm_force_sensor_link"/>
    <child link="r_end_effector_frame"/>
    <origin rpy="0 1.5707963 0" xyz="0 0 -0.1784999"/>
    <axis xyz="0 0 1"/>
  </joint>
  <link name="l_hand_palm_link">
    <visual name="l_hand_palm_link_vis">
      <geometry>
        <mesh filename="package://human_description/meshes/robot_hands/m92u_hand/visual/l_hand_palm_link.stl" scale="1e-3 1e-3 1e-3"/>
      </geometry>
      <material name="metal">
        <color rgba="0.85 0.85 0.85 1"/>
      </material>
    </visual>
    <collision name="l_hand_palm_link_col">
      <geometry>
        <mesh filename="package://human_description/meshes/robot_hands/m92u_hand/collision/l_hand_palm_link.stl" scale="1e-3 1e-3 1e-3"/>
      </geometry>
    </collision>
    <inertial>
      <origin rpy="0.0 0.0 0.0" xyz="0.0066907677 -0.0010477583 0.073269258"/>
      <mass value="0.51091924"/>
      <inertia ixx="0.0011738638" ixy="8.0758228e-06" ixz="-5.8385213e-05" iyy="0.00086809954" iyz="-2.9339983e-06" izz="0.00046867916"/>
    </inertial>
  </link>
  <joint name="l_hand_palm_fixed_joint" type="fixed">
    <parent link="l_arm_force_sensor_link"/>
    <child link="l_hand_palm_link"/>
    <origin rpy="3.1415926 0.0 1.5707963" xyz="0.0 0.0 -0.0402"/>
    <axis xyz="0 0 1"/>
  </joint>
  <link name="l_thumb_cmc_y_link">
    <visual name="l_thumb_cmc_y_link_vis">
      <geometry>
        <mesh filename="package://human_description/meshes/robot_hands/m92u_hand/visual/l_thumb_cmc_y_link.stl" scale="1e-3 1e-3 1e-3"/>
      </geometry>
      <material name="metal">
        <color rgba="0.85 0.85 0.85 1"/>
      </material>
    </visual>
    <collision name="l_thumb_cmc_y_link_col">
      <geometry>
        <mesh filename="package://human_description/meshes/robot_hands/m92u_hand/collision/l_thumb_cmc_y_link.stl" scale="1e-3 1e-3 1e-3"/>
      </geometry>
    </collision>
    <inertial>
      <origin rpy="0.0 0.0 0.0" xyz="0.00013690974 0.004314019 0.0014461036"/>
      <mass value="0.0041682968"/>
      <inertia ixx="1.879066e-07" ixy="2.6648846e-10" ixz="1.9123148e-09" iyy="1.4733887e-07" iyz="-1.0252068e-08" izz="1.6145797e-07"/>
    </inertial>
  </link>
  <joint name="l_thumb_cmc_y_joint" type="fixed">
    <parent link="l_hand_palm_link"/>
    <child link="l_thumb_cmc_y_link"/>
    <origin rpy="6.98131688888889e-09 4.188790133333333e-08 0.17452838436624443" xyz="-0.01285999 0.030499 0.0422"/>
    <axis xyz="0 0 1"/>
  </joint>
  <link name="l_thumb_cmc_p_link">
    <visual name="l_thumb_cmc_p_link_vis">
      <geometry>
        <mesh filename="package://human_description/meshes/robot_hands/m92u_hand/visual/l_thumb_cmc_p_link.stl" scale="1e-3 1e-3 1e-3"/>
      </geometry>
      <material name="metal">
        <color rgba="0.85 0.85 0.85 1"/>
      </material>
    </visual>
    <collision name="l_thumb_cmc_p_link_col">
      <geometry>
        <mesh filename="package://human_description/meshes/robot_hands/m92u_hand/collision/l_thumb_cmc_p_link.stl" scale="1e-3 1e-3 1e-3"/>
      </geometry>
    </collision>
    <inertial>
      <origin rpy="0.0 0.0 0.0" xyz="0.0037406309 6.2541125e-05 0.030701447"/>
      <mass value="0.065849672"/>
      <inertia ixx="2.342561e-05" ixy="1.0513129e-08" ixz="-1.2619558e-06" iyy="2.3436847e-05" iyz="-6.1471225e-09" izz="6.0738673e-06"/>
    </inertial>
  </link>
  <joint name="l_thumb_cmc_p_joint" type="fixed">
    <parent link="l_thumb_cmc_y_link"/>
    <child link="l_thumb_cmc_p_link"/>
    <origin rpy="6.98131688888889e-09 1.0556553987442223 1.5707963" xyz="0.0 0.010222 -0.001249999"/>
    <axis xyz="0 1 0"/>
  </joint>
  <link name="l_thumb_mcp_link">
    <visual name="l_thumb_mcp_link_vis">
      <geometry>
        <mesh filename="package://human_description/meshes/robot_hands/m92u_hand/visual/l_thumb_mcp_link.stl" scale="1e-3 1e-3 1e-3"/>
      </geometry>
      <material name="metal">
        <color rgba="0.85 0.85 0.85 1"/>
      </material>
    </visual>
    <collision name="l_thumb_mcp_link_col">
      <geometry>
        <mesh filename="package://human_description/meshes/robot_hands/m92u_hand/collision/l_thumb_mcp_link.stl" scale="1e-3 1e-3 1e-3"/>
      </geometry>
    </collision>
    <inertial>
      <origin rpy="0.0 0.0 0.0" xyz="0.0041049624 0.00012475893 0.0068045785"/>
      <mass value="0.020626252"/>
      <inertia ixx="2.7725592e-06" ixy="3.2525504e-09" ixz="1.0813275e-07" iyy="2.4303458e-06" iyz="-1.4560537e-09" izz="1.844533e-06"/>
    </inertial>
  </link>
  <joint name="l_thumb_mcp_joint" type="fixed">
    <parent link="l_thumb_cmc_p_link"/>
    <child link="l_thumb_mcp_link"/>
    <origin rpy="0.0 0.1292803752142889 0.0" xyz="0.0 0.0 0.061208"/>
    <axis xyz="0 1 0"/>
  </joint>
  <link name="l_thumb_ip_link">
    <visual name="l_thumb_ip_link_vis">
      <geometry>
        <mesh filename="package://human_description/meshes/robot_hands/m92u_hand/visual/l_thumb_ip_link.stl" scale="1e-3 1e-3 1e-3"/>
      </geometry>
      <material name="metal">
        <color rgba="0.85 0.85 0.85 1"/>
      </material>
    </visual>
    <collision name="l_thumb_ip_link_col">
      <geometry>
        <mesh filename="package://human_description/meshes/robot_hands/m92u_hand/collision/l_thumb_ip_link.stl" scale="1e-3 1e-3 1e-3"/>
      </geometry>
    </collision>
    <inertial>
      <origin rpy="0.0 0.0 0.0" xyz="0.0023012779 5.1945218e-05 0.01155386"/>
      <mass value="0.014682022"/>
      <inertia ixx="1.7598268e-06" ixy="2.1216882e-10" ixz="1.7453019e-07" iyy="1.6243072e-06" iyz="5.4318299e-09" izz="5.5154865e-07"/>
    </inertial>
  </link>
  <joint name="l_thumb_ip_joint" type="fixed">
    <parent link="l_thumb_mcp_link"/>
    <child link="l_thumb_ip_link"/>
    <origin rpy="0.0 0.030171506264555555 0.0" xyz="0.0 0.0 0.021998"/>
    <axis xyz="0 1 0"/>
  </joint>
  <link name="l_index_mcp_link">
    <visual name="l_index_mcp_link_vis">
      <geometry>
        <mesh filename="package://human_description/meshes/robot_hands/m92u_hand/visual/l_index_mcp_link.stl" scale="1e-3 1e-3 1e-3"/>
      </geometry>
      <material name="metal">
        <color rgba="0.85 0.85 0.85 1"/>
      </material>
    </visual>
    <collision name="l_index_mcp_link_col">
      <geometry>
        <mesh filename="package://human_description/meshes/robot_hands/m92u_hand/collision/l_index_mcp_link.stl" scale="1e-3 1e-3 1e-3"/>
      </geometry>
    </collision>
    <inertial>
      <origin rpy="0 0 0" xyz="0.0025630348 -4.5144155e-05 0.015835538"/>
      <mass value="0.019819477"/>
      <inertia ixx="7.968542e-06" ixy="-2.0287697e-09" ixz="1.8656552e-07" iyy="7.7945937e-06" iyz="9.2239096e-09" izz="1.3645148e-06"/>
    </inertial>
  </link>
  <joint name="l_index_mcp_joint" type="fixed">
    <parent link="l_hand_palm_link"/>
    <child link="l_index_mcp_link"/>
    <origin rpy="-0.05341929150455556 -0.1994370248941111 0.010576695086666667" xyz="0.0098 0.03651 0.1371306"/>
    <axis xyz="0 1 0"/>
  </joint>
  <link name="l_index_pip_link">
    <visual name="l_index_pip_link_vis">
      <geometry>
        <mesh filename="package://human_description/meshes/robot_hands/m92u_hand/visual/l_index_pip_link.stl" scale="1e-3 1e-3 1e-3"/>
      </geometry>
      <material name="metal">
        <color rgba="0.85 0.85 0.85 1"/>
      </material>
    </visual>
    <collision name="l_index_pip_link_col">
      <geometry>
        <mesh filename="package://human_description/meshes/robot_hands/m92u_hand/collision/l_index_pip_link.stl" scale="1e-3 1e-3 1e-3"/>
      </geometry>
    </collision>
    <inertial>
      <origin rpy="0 0 0" xyz="-0.0034042799 4.7762295e-05 0.01800778"/>
      <mass value="0.014898956"/>
      <inertia ixx="4.0728035e-06" ixy="-4.5175385e-10" ixz="-1.3605185e-07" iyy="3.9952123e-06" iyz="7.1198886e-09" izz="5.2116681e-07"/>
    </inertial>
  </link>
  <joint name="l_index_pip_joint" type="fixed">
    <parent link="l_index_mcp_link"/>
    <child link="l_index_pip_link"/>
    <origin rpy="0.0 -0.05016320530757778 0.0" xyz="0.0 0.0 0.0310058"/>
    <axis xyz="0 1 0"/>
  </joint>
  <link name="l_middle_mcp_link">
    <visual name="l_middle_mcp_link_vis">
      <geometry>
        <mesh filename="package://human_description/meshes/robot_hands/m92u_hand/visual/l_middle_mcp_link.stl" scale="1e-3 1e-3 1e-3"/>
      </geometry>
      <material name="metal">
        <color rgba="0.85 0.85 0.85 1"/>
      </material>
    </visual>
    <collision name="l_middle_mcp_link_col">
      <geometry>
        <mesh filename="package://human_description/meshes/robot_hands/m92u_hand/collision/l_middle_mcp_link.stl" scale="1e-3 1e-3 1e-3"/>
      </geometry>
    </collision>
    <inertial>
      <origin rpy="0 0 0" xyz="0.0025630348 -4.5144155e-05 0.015835538"/>
      <mass value="0.019819477"/>
      <inertia ixx="7.968542e-06" ixy="-2.0287697e-09" ixz="1.8656552e-07" iyy="7.7945937e-06" iyz="9.2239096e-09" izz="1.3645148e-06"/>
    </inertial>
  </link>
  <joint name="l_middle_mcp_joint" type="fixed">
    <parent link="l_hand_palm_link"/>
    <child link="l_middle_mcp_link"/>
    <origin rpy="0.0 -0.19971453224044444 0.0" xyz="0.0098 0.0110499 0.1382999"/>
    <axis xyz="0 1 0"/>
  </joint>
  <link name="l_middle_pip_link">
    <visual name="l_middle_pip_link_vis">
      <geometry>
        <mesh filename="package://human_description/meshes/robot_hands/m92u_hand/visual/l_middle_pip_link.stl" scale="1e-3 1e-3 1e-3"/>
      </geometry>
      <material name="metal">
        <color rgba="0.85 0.85 0.85 1"/>
      </material>
    </visual>
    <collision name="l_middle_pip_link_col">
      <geometry>
        <mesh filename="package://human_description/meshes/robot_hands/m92u_hand/collision/l_middle_pip_link.stl" scale="1e-3 1e-3 1e-3"/>
      </geometry>
    </collision>
    <inertial>
      <origin rpy="0 0 0" xyz="-0.0034042799 4.7762295e-05 0.01800778"/>
      <mass value="0.014898956"/>
      <inertia ixx="4.0728035e-06" ixy="-4.5175385e-10" ixz="-1.3605185e-07" iyy="3.9952123e-06" iyz="7.1198886e-09" izz="5.2116681e-07"/>
    </inertial>
  </link>
  <joint name="l_middle_pip_joint" type="fixed">
    <parent link="l_middle_mcp_link"/>
    <child link="l_middle_pip_link"/>
    <origin rpy="0.0 -0.05016320530757778 0.0" xyz="0.0 0.0 0.0310058"/>
    <axis xyz="0 1 0"/>
  </joint>
  <link name="l_ring_mcp_link">
    <visual name="l_ring_mcp_link_vis">
      <geometry>
        <mesh filename="package://human_description/meshes/robot_hands/m92u_hand/visual/l_ring_mcp_link.stl" scale="1e-3 1e-3 1e-3"/>
      </geometry>
      <material name="metal">
        <color rgba="0.85 0.85 0.85 1"/>
      </material>
    </visual>
    <collision name="l_ring_mcp_link_col">
      <geometry>
        <mesh filename="package://human_description/meshes/robot_hands/m92u_hand/collision/l_ring_mcp_link.stl" scale="1e-3 1e-3 1e-3"/>
      </geometry>
    </collision>
    <inertial>
      <origin rpy="0 0 0" xyz="0.0025630348 -4.5144155e-05 0.015835538"/>
      <mass value="0.019819477"/>
      <inertia ixx="7.968542e-06" ixy="-2.0287697e-09" ixz="1.8656552e-07" iyy="7.7945937e-06" iyz="9.2239096e-09" izz="1.3645148e-06"/>
    </inertial>
  </link>
  <joint name="l_ring_mcp_joint" type="fixed">
    <parent link="l_hand_palm_link"/>
    <child link="l_ring_mcp_link"/>
    <origin rpy="0.05341927405126334 -0.1994370248941111 -0.010592403049666667" xyz="0.0098 -0.01446388 0.13813451"/>
    <axis xyz="0 1 0"/>
  </joint>
  <link name="l_ring_pip_link">
    <visual name="l_ring_pip_link_vis">
      <geometry>
        <mesh filename="package://human_description/meshes/robot_hands/m92u_hand/visual/l_ring_pip_link.stl" scale="1e-3 1e-3 1e-3"/>
      </geometry>
      <material name="metal">
        <color rgba="0.85 0.85 0.85 1"/>
      </material>
    </visual>
    <collision name="l_ring_pip_link_col">
      <geometry>
        <mesh filename="package://human_description/meshes/robot_hands/m92u_hand/collision/l_ring_pip_link.stl" scale="1e-3 1e-3 1e-3"/>
      </geometry>
    </collision>
    <inertial>
      <origin rpy="0 0 0" xyz="-0.0034042799 4.7762295e-05 0.01800778"/>
      <mass value="0.014898956"/>
      <inertia ixx="4.0728035e-06" ixy="-4.5175385e-10" ixz="-1.3605185e-07" iyy="3.9952123e-06" iyz="7.1198886e-09" izz="5.2116681e-07"/>
    </inertial>
  </link>
  <joint name="l_ring_pip_joint" type="fixed">
    <parent link="l_ring_mcp_link"/>
    <child link="l_ring_pip_link"/>
    <origin rpy="0.0 -0.05016320530757778 0.0" xyz="0.0 0.0 0.0310058"/>
    <axis xyz="0 1 0"/>
  </joint>
  <link name="l_pinky_mcp_link">
    <visual name="l_pinky_mcp_link_vis">
      <geometry>
        <mesh filename="package://human_description/meshes/robot_hands/m92u_hand/visual/l_pinky_mcp_link.stl" scale="1e-3 1e-3 1e-3"/>
      </geometry>
      <material name="metal">
        <color rgba="0.85 0.85 0.85 1"/>
      </material>
    </visual>
    <collision name="l_pinky_mcp_link_col">
      <geometry>
        <mesh filename="package://human_description/meshes/robot_hands/m92u_hand/collision/l_pinky_mcp_link.stl" scale="1e-3 1e-3 1e-3"/>
      </geometry>
    </collision>
    <inertial>
      <origin rpy="0 0 0" xyz="0.0025630348 -4.5144155e-05 0.015835538"/>
      <mass value="0.019819477"/>
      <inertia ixx="7.968542e-06" ixy="-2.0287697e-09" ixz="1.8656552e-07" iyy="7.7945937e-06" iyz="9.2239096e-09" izz="1.3645148e-06"/>
    </inertial>
  </link>
  <joint name="l_pinky_mcp_joint" type="fixed">
    <parent link="l_hand_palm_link"/>
    <child link="l_pinky_mcp_link"/>
    <origin rpy="0.1068141484 -0.19860101219666665 -0.021153390173333335" xyz="0.0098 -0.0398034 0.13514012"/>
    <axis xyz="0 1 0"/>
  </joint>
  <link name="l_pinky_pip_link">
    <visual name="l_pinky_pip_link_vis">
      <geometry>
        <mesh filename="package://human_description/meshes/robot_hands/m92u_hand/visual/l_pinky_pip_link.stl" scale="1e-3 1e-3 1e-3"/>
      </geometry>
      <material name="metal">
        <color rgba="0.85 0.85 0.85 1"/>
      </material>
    </visual>
    <collision name="l_pinky_pip_link_col">
      <geometry>
        <mesh filename="package://human_description/meshes/robot_hands/m92u_hand/collision/l_pinky_pip_link.stl" scale="1e-3 1e-3 1e-3"/>
      </geometry>
    </collision>
    <inertial>
      <origin rpy="0 0 0" xyz="-0.0034042799 4.7762295e-05 0.01800778"/>
      <mass value="0.014898956"/>
      <inertia ixx="4.0728035e-06" ixy="-4.5175385e-10" ixz="-1.3605185e-07" iyy="3.9952123e-06" iyz="7.1198886e-09" izz="5.2116681e-07"/>
    </inertial>
  </link>
  <joint name="l_pinky_pip_joint" type="fixed">
    <parent link="l_pinky_mcp_link"/>
    <child link="l_pinky_pip_link"/>
    <origin rpy="0.0 -0.05016320530757778 0.0" xyz="0.0 0.0 0.0310058"/>
    <axis xyz="0 1 0"/>
  </joint>
  <link name="r_hand_palm_link">
    <visual name="r_hand_palm_link_vis">
      <geometry>
        <mesh filename="package://human_description/meshes/robot_hands/m92u_hand/visual/r_hand_palm_link.stl" scale="1e-3 1e-3 1e-3"/>
      </geometry>
      <material name="metal">
        <color rgba="0.85 0.85 0.85 1"/>
      </material>
    </visual>
    <collision name="r_hand_palm_link_col">
      <geometry>
        <mesh filename="package://human_description/meshes/robot_hands/m92u_hand/collision/r_hand_palm_link.stl" scale="1e-3 1e-3 1e-3"/>
      </geometry>
    </collision>
    <inertial>
      <origin rpy="0.0 0.0 0.0" xyz="-0.0066907677 -0.0010477583 0.073269258"/>
      <mass value="0.51091924"/>
      <inertia ixx="0.0011738638" ixy="-8.0758228e-06" ixz="5.8385213e-05" iyy="0.00086809954" iyz="-2.9339983e-06" izz="0.00046867916"/>
    </inertial>
  </link>
  <joint name="r_hand_palm_fixed_joint" type="fixed">
    <parent link="r_arm_force_sensor_link"/>
    <child link="r_hand_palm_link"/>
    <origin rpy="3.1415926 0.0 1.5707963" xyz="0.0 0.0 -0.0402"/>
    <axis xyz="0 0 1"/>
  </joint>
  <link name="r_thumb_cmc_y_link">
    <visual name="r_thumb_cmc_y_link_vis">
      <geometry>
        <mesh filename="package://human_description/meshes/robot_hands/m92u_hand/visual/r_thumb_cmc_y_link.stl" scale="1e-3 1e-3 1e-3"/>
      </geometry>
      <material name="metal">
        <color rgba="0.85 0.85 0.85 1"/>
      </material>
    </visual>
    <collision name="r_thumb_cmc_y_link_col">
      <geometry>
        <mesh filename="package://human_description/meshes/robot_hands/m92u_hand/collision/r_thumb_cmc_y_link.stl" scale="1e-3 1e-3 1e-3"/>
      </geometry>
    </collision>
    <inertial>
      <origin rpy="0.0 0.0 0.0" xyz="-0.00013690974 0.004314019 0.0014461036"/>
      <mass value="0.0041682968"/>
      <inertia ixx="1.879066e-07" ixy="-2.6648846e-10" ixz="-1.9123148e-09" iyy="1.4733887e-07" iyz="-1.0252068e-08" izz="1.6145797e-07"/>
    </inertial>
  </link>
  <joint name="r_thumb_cmc_y_joint" type="fixed">
    <parent link="r_hand_palm_link"/>
    <child link="r_thumb_cmc_y_link"/>
    <origin rpy="6.98131688888889e-09 -4.188790133333333e-08 -0.17452838436624443" xyz="0.01285999 0.030499 0.0422"/>
    <axis xyz="0 0 1"/>
  </joint>
  <link name="r_thumb_cmc_p_link">
    <visual name="r_thumb_cmc_p_link_vis">
      <geometry>
        <mesh filename="package://human_description/meshes/robot_hands/m92u_hand/visual/r_thumb_cmc_p_link.stl" scale="1e-3 1e-3 1e-3"/>
      </geometry>
      <material name="metal">
        <color rgba="0.85 0.85 0.85 1"/>
      </material>
    </visual>
    <collision name="r_thumb_cmc_p_link_col">
      <geometry>
        <mesh filename="package://human_description/meshes/robot_hands/m92u_hand/collision/r_thumb_cmc_p_link.stl" scale="1e-3 1e-3 1e-3"/>
      </geometry>
    </collision>
    <inertial>
      <origin rpy="0.0 0.0 0.0" xyz="0.0037406309 6.2541125e-05 0.030701447"/>
      <mass value="0.065849672"/>
      <inertia ixx="2.342561e-05" ixy="1.0513129e-08" ixz="-1.2619558e-06" iyy="2.3436847e-05" iyz="-6.1471225e-09" izz="6.0738673e-06"/>
    </inertial>
  </link>
  <joint name="r_thumb_cmc_p_joint" type="fixed">
    <parent link="r_thumb_cmc_y_link"/>
    <child link="r_thumb_cmc_p_link"/>
    <origin rpy="6.98131688888889e-09 1.0556553987442223 1.5707963" xyz="0.0 0.010222 -0.001249999"/>
    <axis xyz="0 1 0"/>
  </joint>
  <link name="r_thumb_mcp_link">
    <visual name="r_thumb_mcp_link_vis">
      <geometry>
        <mesh filename="package://human_description/meshes/robot_hands/m92u_hand/visual/r_thumb_mcp_link.stl" scale="1e-3 1e-3 1e-3"/>
      </geometry>
      <material name="metal">
        <color rgba="0.85 0.85 0.85 1"/>
      </material>
    </visual>
    <collision name="r_thumb_mcp_link_col">
      <geometry>
        <mesh filename="package://human_description/meshes/robot_hands/m92u_hand/collision/r_thumb_mcp_link.stl" scale="1e-3 1e-3 1e-3"/>
      </geometry>
    </collision>
    <inertial>
      <origin rpy="0.0 0.0 0.0" xyz="0.0041049624 0.00012475893 0.0068045785"/>
      <mass value="0.020626252"/>
      <inertia ixx="2.7725592e-06" ixy="3.2525504e-09" ixz="1.0813275e-07" iyy="2.4303458e-06" iyz="-1.4560537e-09" izz="1.844533e-06"/>
    </inertial>
  </link>
  <joint name="r_thumb_mcp_joint" type="fixed">
    <parent link="r_thumb_cmc_p_link"/>
    <child link="r_thumb_mcp_link"/>
    <origin rpy="0.0 0.1292803752142889 0.0" xyz="0.0 0.0 0.061208"/>
    <axis xyz="0 1 0"/>
  </joint>
  <link name="r_thumb_ip_link">
    <visual name="r_thumb_ip_link_vis">
      <geometry>
        <mesh filename="package://human_description/meshes/robot_hands/m92u_hand/visual/r_thumb_ip_link.stl" scale="1e-3 1e-3 1e-3"/>
      </geometry>
      <material name="metal">
        <color rgba="0.85 0.85 0.85 1"/>
      </material>
    </visual>
    <collision name="r_thumb_ip_link_col">
      <geometry>
        <mesh filename="package://human_description/meshes/robot_hands/m92u_hand/collision/r_thumb_ip_link.stl" scale="1e-3 1e-3 1e-3"/>
      </geometry>
    </collision>
    <inertial>
      <origin rpy="0.0 0.0 0.0" xyz="0.0023012779 5.1945218e-05 0.01155386"/>
      <mass value="0.014682022"/>
      <inertia ixx="1.7598268e-06" ixy="2.1216882e-10" ixz="1.7453019e-07" iyy="1.6243072e-06" iyz="5.4318299e-09" izz="5.5154865e-07"/>
    </inertial>
  </link>
  <joint name="r_thumb_ip_joint" type="fixed">
    <parent link="r_thumb_mcp_link"/>
    <child link="r_thumb_ip_link"/>
    <origin rpy="0.0 0.030171506264555555 0.0" xyz="0.0 0.0 0.021998"/>
    <axis xyz="0 1 0"/>
  </joint>
  <link name="r_index_mcp_link">
    <visual name="r_index_mcp_link_vis">
      <geometry>
        <mesh filename="package://human_description/meshes/robot_hands/m92u_hand/visual/r_index_mcp_link.stl" scale="1e-3 1e-3 1e-3"/>
      </geometry>
      <material name="metal">
        <color rgba="0.85 0.85 0.85 1"/>
      </material>
    </visual>
    <collision name="r_index_mcp_link_col">
      <geometry>
        <mesh filename="package://human_description/meshes/robot_hands/m92u_hand/collision/r_index_mcp_link.stl" scale="1e-3 1e-3 1e-3"/>
      </geometry>
    </collision>
    <inertial>
      <origin rpy="0 0 0" xyz="-0.0025630348 4.5144155e-05 0.015835538"/>
      <mass value="0.019819477"/>
      <inertia ixx="7.968542e-06" ixy="-2.0287697e-09" ixz="-1.8656552e-07" iyy="7.7945937e-06" iyz="-9.2239096e-09" izz="1.3645148e-06"/>
    </inertial>
  </link>
  <joint name="r_index_mcp_joint" type="fixed">
    <parent link="r_hand_palm_link"/>
    <child link="r_index_mcp_link"/>
    <origin rpy="-0.05341929150455556 0.1994370248941111 -0.010576695086666667" xyz="-0.0098 0.03651 0.1371306"/>
    <axis xyz="0 1 0"/>
  </joint>
  <link name="r_index_pip_link">
    <visual name="r_index_pip_link_vis">
      <geometry>
        <mesh filename="package://human_description/meshes/robot_hands/m92u_hand/visual/r_index_pip_link.stl" scale="1e-3 1e-3 1e-3"/>
      </geometry>
      <material name="metal">
        <color rgba="0.85 0.85 0.85 1"/>
      </material>
    </visual>
    <collision name="r_index_pip_link_col">
      <geometry>
        <mesh filename="package://human_description/meshes/robot_hands/m92u_hand/collision/r_index_pip_link.stl" scale="1e-3 1e-3 1e-3"/>
      </geometry>
    </collision>
    <inertial>
      <origin rpy="0 0 0" xyz="-0.0034042799 4.7762295e-05 0.01800778"/>
      <mass value="0.014898956"/>
      <inertia ixx="4.0728035e-06" ixy="-4.5175385e-10" ixz="-1.3605185e-07" iyy="3.9952123e-06" iyz="7.1198886e-09" izz="5.2116681e-07"/>
    </inertial>
  </link>
  <joint name="r_index_pip_joint" type="fixed">
    <parent link="r_index_mcp_link"/>
    <child link="r_index_pip_link"/>
    <origin rpy="0.0 0.05016320530757778 0.0" xyz="0.0 0.0 0.0310058"/>
    <axis xyz="0 1 0"/>
  </joint>
  <link name="r_middle_mcp_link">
    <visual name="r_middle_mcp_link_vis">
      <geometry>
        <mesh filename="package://human_description/meshes/robot_hands/m92u_hand/visual/r_middle_mcp_link.stl" scale="1e-3 1e-3 1e-3"/>
      </geometry>
      <material name="metal">
        <color rgba="0.85 0.85 0.85 1"/>
      </material>
    </visual>
    <collision name="r_middle_mcp_link_col">
      <geometry>
        <mesh filename="package://human_description/meshes/robot_hands/m92u_hand/collision/r_middle_mcp_link.stl" scale="1e-3 1e-3 1e-3"/>
      </geometry>
    </collision>
    <inertial>
      <origin rpy="0 0 0" xyz="-0.0025630348 4.5144155e-05 0.015835538"/>
      <mass value="0.019819477"/>
      <inertia ixx="7.968542e-06" ixy="-2.0287697e-09" ixz="-1.8656552e-07" iyy="7.7945937e-06" iyz="-9.2239096e-09" izz="1.3645148e-06"/>
    </inertial>
  </link>
  <joint name="r_middle_mcp_joint" type="fixed">
    <parent link="r_hand_palm_link"/>
    <child link="r_middle_mcp_link"/>
    <origin rpy="0.0 0.19971453224044444 0.0" xyz="-0.0098 0.0110499 0.1382999"/>
    <axis xyz="0 1 0"/>
  </joint>
  <link name="r_middle_pip_link">
    <visual name="r_middle_pip_link_vis">
      <geometry>
        <mesh filename="package://human_description/meshes/robot_hands/m92u_hand/visual/r_middle_pip_link.stl" scale="1e-3 1e-3 1e-3"/>
      </geometry>
      <material name="metal">
        <color rgba="0.85 0.85 0.85 1"/>
      </material>
    </visual>
    <collision name="r_middle_pip_link_col">
      <geometry>
        <mesh filename="package://human_description/meshes/robot_hands/m92u_hand/collision/r_middle_pip_link.stl" scale="1e-3 1e-3 1e-3"/>
      </geometry>
    </collision>
    <inertial>
      <origin rpy="0 0 0" xyz="-0.0034042799 4.7762295e-05 0.01800778"/>
      <mass value="0.014898956"/>
      <inertia ixx="4.0728035e-06" ixy="-4.5175385e-10" ixz="-1.3605185e-07" iyy="3.9952123e-06" iyz="7.1198886e-09" izz="5.2116681e-07"/>
    </inertial>
  </link>
  <joint name="r_middle_pip_joint" type="fixed">
    <parent link="r_middle_mcp_link"/>
    <child link="r_middle_pip_link"/>
    <origin rpy="0.0 0.05016320530757778 0.0" xyz="0.0 0.0 0.0310058"/>
    <axis xyz="0 1 0"/>
  </joint>
  <link name="r_ring_mcp_link">
    <visual name="r_ring_mcp_link_vis">
      <geometry>
        <mesh filename="package://human_description/meshes/robot_hands/m92u_hand/visual/r_ring_mcp_link.stl" scale="1e-3 1e-3 1e-3"/>
      </geometry>
      <material name="metal">
        <color rgba="0.85 0.85 0.85 1"/>
      </material>
    </visual>
    <collision name="r_ring_mcp_link_col">
      <geometry>
        <mesh filename="package://human_description/meshes/robot_hands/m92u_hand/collision/r_ring_mcp_link.stl" scale="1e-3 1e-3 1e-3"/>
      </geometry>
    </collision>
    <inertial>
      <origin rpy="0 0 0" xyz="-0.0025630348 4.5144155e-05 0.015835538"/>
      <mass value="0.019819477"/>
      <inertia ixx="7.968542e-06" ixy="-2.0287697e-09" ixz="-1.8656552e-07" iyy="7.7945937e-06" iyz="-9.2239096e-09" izz="1.3645148e-06"/>
    </inertial>
  </link>
  <joint name="r_ring_mcp_joint" type="fixed">
    <parent link="r_hand_palm_link"/>
    <child link="r_ring_mcp_link"/>
    <origin rpy="0.05341927405126334 0.1994370248941111 0.010592403049666667" xyz="-0.0098 -0.01446388 0.13813451"/>
    <axis xyz="0 1 0"/>
  </joint>
  <link name="r_ring_pip_link">
    <visual name="r_ring_pip_link_vis">
      <geometry>
        <mesh filename="package://human_description/meshes/robot_hands/m92u_hand/visual/r_ring_pip_link.stl" scale="1e-3 1e-3 1e-3"/>
      </geometry>
      <material name="metal">
        <color rgba="0.85 0.85 0.85 1"/>
      </material>
    </visual>
    <collision name="r_ring_pip_link_col">
      <geometry>
        <mesh filename="package://human_description/meshes/robot_hands/m92u_hand/collision/r_ring_pip_link.stl" scale="1e-3 1e-3 1e-3"/>
      </geometry>
    </collision>
    <inertial>
      <origin rpy="0 0 0" xyz="-0.0034042799 4.7762295e-05 0.01800778"/>
      <mass value="0.014898956"/>
      <inertia ixx="4.0728035e-06" ixy="-4.5175385e-10" ixz="-1.3605185e-07" iyy="3.9952123e-06" iyz="7.1198886e-09" izz="5.2116681e-07"/>
    </inertial>
  </link>
  <joint name="r_ring_pip_joint" type="fixed">
    <parent link="r_ring_mcp_link"/>
    <child link="r_ring_pip_link"/>
    <origin rpy="0.0 0.05016320530757778 0.0" xyz="0.0 0.0 0.0310058"/>
    <axis xyz="0 1 0"/>
  </joint>
  <link name="r_pinky_mcp_link">
    <visual name="r_pinky_mcp_link_vis">
      <geometry>
        <mesh filename="package://human_description/meshes/robot_hands/m92u_hand/visual/r_pinky_mcp_link.stl" scale="1e-3 1e-3 1e-3"/>
      </geometry>
      <material name="metal">
        <color rgba="0.85 0.85 0.85 1"/>
      </material>
    </visual>
    <collision name="r_pinky_mcp_link_col">
      <geometry>
        <mesh filename="package://human_description/meshes/robot_hands/m92u_hand/collision/r_pinky_mcp_link.stl" scale="1e-3 1e-3 1e-3"/>
      </geometry>
    </collision>
    <inertial>
      <origin rpy="0 0 0" xyz="-0.0025630348 4.5144155e-05 0.015835538"/>
      <mass value="0.019819477"/>
      <inertia ixx="7.968542e-06" ixy="-2.0287697e-09" ixz="-1.8656552e-07" iyy="7.7945937e-06" iyz="-9.2239096e-09" izz="1.3645148e-06"/>
    </inertial>
  </link>
  <joint name="r_pinky_mcp_joint" type="fixed">
    <parent link="r_hand_palm_link"/>
    <child link="r_pinky_mcp_link"/>
    <origin rpy="0.1068141484 0.19860101219666665 0.021153390173333335" xyz="-0.0098 -0.0398034 0.13514012"/>
    <axis xyz="0 1 0"/>
  </joint>
  <link name="r_pinky_pip_link">
    <visual name="r_pinky_pip_link_vis">
      <geometry>
        <mesh filename="package://human_description/meshes/robot_hands/m92u_hand/visual/r_pinky_pip_link.stl" scale="1e-3 1e-3 1e-3"/>
      </geometry>
      <material name="metal">
        <color rgba="0.85 0.85 0.85 1"/>
      </material>
    </visual>
    <collision name="r_pinky_pip_link_col">
      <geometry>
        <mesh filename="package://human_description/meshes/robot_hands/m92u_hand/collision/r_pinky_pip_link.stl" scale="1e-3 1e-3 1e-3"/>
      </geometry>
    </collision>
    <inertial>
      <origin rpy="0 0 0" xyz="-0.0034042799 4.7762295e-05 0.01800778"/>
      <mass value="0.014898956"/>
      <inertia ixx="4.0728035e-06" ixy="-4.5175385e-10" ixz="-1.3605185e-07" iyy="3.9952123e-06" iyz="7.1198886e-09" izz="5.2116681e-07"/>
    </inertial>
  </link>
  <joint name="r_pinky_pip_joint" type="fixed">
    <parent link="r_pinky_mcp_link"/>
    <child link="r_pinky_pip_link"/>
    <origin rpy="0.0 0.05016320530757778 0.0" xyz="0.0 0.0 0.0310058"/>
    <axis xyz="0 1 0"/>
  </joint>
  <link name="head_front_left_fisheye_color_frame"/>
  <joint name="head_front_left_fisheye_color_joint" type="fixed">
    <parent link="head2_p_link"/>
    <child link="head_front_left_fisheye_color_frame"/>
    <origin rpy="0.0 0.034906558 0.0" xyz="0.11560924285 0.03 0.001949777401"/>
    <axis xyz="0 0 1"/>
  </joint>
  <link name="head_front_left_fisheye_color_optical_frame"/>
  <joint name="head_front_left_fisheye_color_optical_joint" type="fixed">
    <parent link="head_front_left_fisheye_color_frame"/>
    <child link="head_front_left_fisheye_color_optical_frame"/>
    <origin rpy="-1.5707963267948966 0.0 -1.5707963267948966" xyz="0.0 0.0 0.0"/>
    <axis xyz="0 0 1"/>
  </joint>
  <sensor name="head_front_left_fisheye_color" type="camera" update_rate="60">
    <parent link="head_front_left_fisheye_color_frame"/>
    <origin rpy="0 0 0" xyz="0 0 0"/>
    <camera>
      <image far="300" format="R8G8B8" height="800" hfov="2.26893" near="0.05" width="1280"/>
    </camera>
  </sensor>
  <link name="head_front_right_fisheye_color_frame"/>
  <joint name="head_front_right_fisheye_color_joint" type="fixed">
    <parent link="head2_p_link"/>
    <child link="head_front_right_fisheye_color_frame"/>
    <origin rpy="0.0 0.034906558 0.0" xyz="0.11560924285 -0.03 0.001949777401"/>
    <axis xyz="0 0 1"/>
  </joint>
  <link name="head_front_right_fisheye_color_optical_frame"/>
  <joint name="head_front_right_fisheye_color_optical_joint" type="fixed">
    <parent link="head_front_right_fisheye_color_frame"/>
    <child link="head_front_right_fisheye_color_optical_frame"/>
    <origin rpy="-1.5707963267948966 0.0 -1.5707963267948966" xyz="0.0 0.0 0.0"/>
    <axis xyz="0 0 1"/>
  </joint>
  <sensor name="head_front_right_fisheye_color" type="camera" update_rate="60">
    <parent link="head_front_right_fisheye_color_frame"/>
    <origin rpy="0 0 0" xyz="0 0 0"/>
    <camera>
      <image far="300" format="R8G8B8" height="800" hfov="2.26893" near="0.05" width="1280"/>
    </camera>
  </sensor>
  <link name="head_left_fisheye_color_frame"/>
  <joint name="head_left_fisheye_color_joint" type="fixed">
    <parent link="head2_p_link"/>
    <child link="head_left_fisheye_color_frame"/>
    <origin rpy="-0.22689279888888889 0.0 1.5707963" xyz="8e-05 0.079054996528 0.068"/>
    <axis xyz="0 0 1"/>
  </joint>
  <link name="head_left_fisheye_color_optical_frame"/>
  <joint name="head_left_fisheye_color_optical_joint" type="fixed">
    <parent link="head_left_fisheye_color_frame"/>
    <child link="head_left_fisheye_color_optical_frame"/>
    <origin rpy="-1.5707963267948966 0.0 -1.5707963267948966" xyz="0.0 0.0 0.0"/>
    <axis xyz="0 0 1"/>
  </joint>
  <sensor name="head_left_fisheye_color" type="camera" update_rate="60">
    <parent link="head_left_fisheye_color_frame"/>
    <origin rpy="0 0 0" xyz="0 0 0"/>
    <camera>
      <image far="300" format="R8G8B8" height="800" hfov="2.26893" near="0.05" width="1280"/>
    </camera>
  </sensor>
  <link name="head_right_fisheye_color_frame"/>
  <joint name="head_right_fisheye_color_joint" type="fixed">
    <parent link="head2_p_link"/>
    <child link="head_right_fisheye_color_frame"/>
    <origin rpy="0.22689279888888889 0.0 -1.5707963" xyz="8e-05 -0.079054996528 0.068"/>
    <axis xyz="0 0 1"/>
  </joint>
  <link name="head_right_fisheye_color_optical_frame"/>
  <joint name="head_right_fisheye_color_optical_joint" type="fixed">
    <parent link="head_right_fisheye_color_frame"/>
    <child link="head_right_fisheye_color_optical_frame"/>
    <origin rpy="-1.5707963267948966 0.0 -1.5707963267948966" xyz="0.0 0.0 0.0"/>
    <axis xyz="0 0 1"/>
  </joint>
  <sensor name="head_right_fisheye_color" type="camera" update_rate="60">
    <parent link="head_right_fisheye_color_frame"/>
    <origin rpy="0 0 0" xyz="0 0 0"/>
    <camera>
      <image far="300" format="R8G8B8" height="800" hfov="2.26893" near="0.05" width="1280"/>
    </camera>
  </sensor>
  <link name="head_realsense_frame"/>
  <joint name="head_realsense_joint" type="fixed">
    <parent link="head2_p_link"/>
    <child link="head_realsense_frame"/>
    <origin rpy="0.0 0.6108652277777777 0.0" xyz="0.087368495194 0.0 -0.027541394905"/>
    <axis xyz="0 0 1"/>
  </joint>
  <!-- camera body, with origin at bottom screw mount -->
  <joint name="head_camera_joint" type="fixed">
    <origin rpy="0 0 0" xyz="0 0 0"/>
    <parent link="head_realsense_frame"/>
    <child link="head_camera_bottom_screw_frame"/>
  </joint>
  <link name="head_camera_bottom_screw_frame"/>
  <joint name="head_camera_link_joint" type="fixed">
    <origin rpy="0 0 0" xyz="0.010600000000000002 0.0175 0.0125"/>
    <parent link="head_camera_bottom_screw_frame"/>
    <child link="head_camera_link"/>
  </joint>
  <link name="head_camera_link">
    <visual name="head_camera_link_vis">
      <!-- the mesh origin is at front plate in between the two infrared camera axes -->
      <origin rpy="0 0 0" xyz="0.0043 -0.0175 0"/>
      <geometry>
        <mesh filename="package://human_description/meshes/camera/d435.stl"/>
      </geometry>
      <material name="aluminum">
        <color rgba="0.5 0.5 0.5 1"/>
      </material>
    </visual>
    <collision name="head_camera_link_col">
      <origin rpy="0 0 0" xyz="-0.0043 -0.0175 0"/>
      <geometry>
        <box size="0.02505 0.09 0.025"/>
      </geometry>
    </collision>
    <inertial>
      <!-- The following are not reliable values, and should not be used for modeling -->
      <mass value="0.072"/>
      <origin rpy="0 0 0" xyz="-0.0043 -0.0175 0"/>
      <inertia ixx="4.41106250E-05" ixy="2.63787168E-07" ixz="2.62460083E-08" iyy="6.59575833E-06" iyz="-3.13712429E-09" izz="4.44598902E-05"/>
    </inertial>
  </link>
  <!-- camera depth joints and links -->
  <joint name="head_camera_depth_joint" type="fixed">
    <origin rpy="0 0 0" xyz="0 0 0"/>
    <parent link="head_camera_link"/>
    <child link="head_camera_depth_frame"/>
  </joint>
  <link name="head_camera_depth_frame"/>
  <joint name="head_camera_depth_optical_joint" type="fixed">
    <origin rpy="-1.5707963267948966 0 -1.5707963267948966" xyz="0 0 0"/>
    <parent link="head_camera_depth_frame"/>
    <child link="head_camera_depth_optical_frame"/>
  </joint>
  <link name="head_camera_depth_optical_frame"/>
  <!-- camera left IR joints and links -->
  <joint name="head_camera_infra1_joint" type="fixed">
    <origin rpy="0 0 0" xyz="0 0.0 0"/>
    <parent link="head_camera_link"/>
    <child link="head_camera_infra1_frame"/>
  </joint>
  <link name="head_camera_infra1_frame"/>
  <joint name="head_camera_infra1_optical_joint" type="fixed">
    <origin rpy="-1.5707963267948966 0 -1.5707963267948966" xyz="0 0 0"/>
    <parent link="head_camera_infra1_frame"/>
    <child link="head_camera_infra1_optical_frame"/>
  </joint>
  <link name="head_camera_infra1_optical_frame"/>
  <!-- camera right IR joints and links -->
  <joint name="head_camera_infra2_joint" type="fixed">
    <origin rpy="0 0 0" xyz="0 -0.05 0"/>
    <parent link="head_camera_link"/>
    <child link="head_camera_infra2_frame"/>
  </joint>
  <link name="head_camera_infra2_frame"/>
  <joint name="head_camera_infra2_optical_joint" type="fixed">
    <origin rpy="-1.5707963267948966 0 -1.5707963267948966" xyz="0 0 0"/>
    <parent link="head_camera_infra2_frame"/>
    <child link="head_camera_infra2_optical_frame"/>
  </joint>
  <link name="head_camera_infra2_optical_frame"/>
  <!-- camera color joints and links -->
  <joint name="head_camera_color_joint" type="fixed">
    <origin rpy="0 0 0" xyz="0 0.015 0"/>
    <parent link="head_camera_link"/>
    <child link="head_camera_color_frame"/>
  </joint>
  <link name="head_camera_color_frame"/>
  <joint name="head_camera_color_optical_joint" type="fixed">
    <origin rpy="-1.5707963267948966 0 -1.5707963267948966" xyz="0 0 0"/>
    <parent link="head_camera_color_frame"/>
    <child link="head_camera_color_optical_frame"/>
  </joint>
  <link name="head_camera_color_optical_frame"/>
  <link name="head_camera_accel_frame"/>
  <link name="head_camera_accel_optical_frame"/>
  <link name="head_camera_gyro_frame"/>
  <link name="head_camera_gyro_optical_frame"/>
  <joint name="head_camera_accel_joint" type="fixed">
    <origin rpy="0 0 0" xyz="-0.01174 -0.00552 0.0051"/>
    <parent link="head_camera_link"/>
    <child link="head_camera_accel_frame"/>
  </joint>
  <joint name="head_camera_accel_optical_joint" type="fixed">
    <origin rpy="-1.5707963267948966 0 -1.5707963267948966" xyz="0 0 0"/>
    <parent link="head_camera_accel_frame"/>
    <child link="head_camera_accel_optical_frame"/>
  </joint>
  <joint name="head_camera_gyro_joint" type="fixed">
    <origin rpy="0 0 0" xyz="-0.01174 -0.00552 0.0051"/>
    <parent link="head_camera_link"/>
    <child link="head_camera_gyro_frame"/>
  </joint>
  <joint name="head_camera_gyro_optical_joint" type="fixed">
    <origin rpy="-1.5707963267948966 0 -1.5707963267948966" xyz="0 0 0"/>
    <parent link="head_camera_gyro_frame"/>
    <child link="head_camera_gyro_optical_frame"/>
  </joint>
  <sensor name="head_camera_color" type="camera" update_rate="60">
    <parent link="head_camera_color_frame"/>
    <origin rpy="0 0 0" xyz="0 0 0"/>
    <camera>
      <image far="300" format="R8G8B8" height="1080" hfov="1.211259" near="0.1" width="1920"/>
    </camera>
  </sensor>
  <sensor name="head_camera_depth" type="camera" update_rate="60">
    <parent link="head_camera_depth_frame"/>
    <origin rpy="0 0 0" xyz="0 0 0"/>
    <camera>
      <image far="300" format="R8G8B8" height="720" hfov="1.51843" near="0.1" width="1280"/>
    </camera>
  </sensor>
  <!--
    <xacro:robot-sensor-camera
      sensor_name="${camera_name}_infra1"
      parent="${camera_name}_infra1_frame"
      sensors_config="${sensors_config}"
      gazebo="${gazebo}"
      frame_id="${camera_name}_infra1_optical_frame"
      topic_name="/${camera_name}/infra1/image_raw"
    />

    <xacro:robot-sensor-camera
      sensor_name="${camera_name}_infra2"
      parent="${camera_name}_infra2_frame"
      sensors_config="${sensors_config}"
      gazebo="${gazebo}"
      frame_id="${camera_name}_infra2_optical_frame"
      topic_name="/${camera_name}/infra2/image_raw"
    />
    -->
  <link name="l_wrist_camera1_color_frame">
    <visual name="l_wrist_camera1_color_frame_vis">
      <geometry>
        <mesh filename="package://human_description/meshes/M92UW/visual/l_wrist_camera1_color_frame.stl" scale="1e-3 1e-3 1e-3"/>
      </geometry>
      <material name="metal">
        <color rgba="0.85 0.85 0.85 1"/>
      </material>
    </visual>
    <collision name="l_wrist_camera1_color_frame_col">
      <geometry>
        <mesh filename="package://human_description/meshes/M92UW/collision/l_wrist_camera1_color_frame.stl" scale="1e-3 1e-3 1e-3"/>
      </geometry>
    </collision>
    <inertial>
      <origin rpy="0.0 0.0 0.0" xyz="-0.012285569 0.0087884052 -0.0098946948"/>
      <mass value="0.072932157"/>
      <inertia ixx="5.1376998e-05" ixy="-3.317367e-06" ixz="-6.6970575e-06" iyy="3.9275746e-05" iyz="2.4559639e-07" izz="2.5471586e-05"/>
    </inertial>
  </link>
  <joint name="l_wrist_camera1_color_joint" type="fixed">
    <parent link="l_hand_palm_link"/>
    <child link="l_wrist_camera1_color_frame"/>
    <origin rpy="-1.7206153604355556 -1.0406350954577779 2.5788111922944443" xyz="-0.0367575 -0.0385 0.01804"/>
    <axis xyz="0 0 1"/>
  </joint>
  <link name="l_wrist_camera1_color_optical_frame"/>
  <joint name="l_wrist_camera1_color_optical_joint" type="fixed">
    <parent link="l_wrist_camera1_color_frame"/>
    <child link="l_wrist_camera1_color_optical_frame"/>
    <origin rpy="-1.5707963 0.0 -1.5707963" xyz="0.0 0.0 0.0"/>
    <axis xyz="0 0 1"/>
  </joint>
  <sensor name="l_wrist_camera1_color" type="camera" update_rate="60">
    <parent link="l_wrist_camera1_color_frame"/>
    <origin rpy="0 0 0" xyz="0 0 0"/>
    <camera>
      <image far="300" format="R8G8B8" height="1200" hfov="1.74358" near="0.05" width="1600"/>
    </camera>
  </sensor>
  <link name="l_wrist_camera2_color_frame"/>
  <joint name="l_wrist_camera2_color_joint" type="fixed">
    <parent link="l_wrist_camera1_color_optical_frame"/>
    <child link="l_wrist_camera2_color_frame"/>
    <origin rpy="0.0 -1.5707963 1.5707963" xyz="-0.02 0.0 0.0"/>
    <axis xyz="0 0 1"/>
  </joint>
  <link name="l_wrist_camera2_color_optical_frame"/>
  <joint name="l_wrist_camera2_color_optical_joint" type="fixed">
    <parent link="l_wrist_camera2_color_frame"/>
    <child link="l_wrist_camera2_color_optical_frame"/>
    <origin rpy="-1.5707963 0.0 -1.5707963" xyz="0.0 0.0 0.0"/>
    <axis xyz="0 0 1"/>
  </joint>
  <sensor name="l_wrist_camera2_color" type="camera" update_rate="60">
    <parent link="l_wrist_camera2_color_frame"/>
    <origin rpy="0 0 0" xyz="0 0 0"/>
    <camera>
      <image far="300" format="R8G8B8" height="1200" hfov="1.74358" near="0.05" width="1600"/>
    </camera>
  </sensor>
  <link name="r_wrist_camera1_color_frame">
    <visual name="r_wrist_camera1_color_frame_vis">
      <geometry>
        <mesh filename="package://human_description/meshes/M92UW/visual/r_wrist_camera1_color_frame.stl" scale="1e-3 1e-3 1e-3"/>
      </geometry>
      <material name="metal">
        <color rgba="0.85 0.85 0.85 1"/>
      </material>
    </visual>
    <collision name="r_wrist_camera1_color_frame_col">
      <geometry>
        <mesh filename="package://human_description/meshes/M92UW/collision/r_wrist_camera1_color_frame.stl" scale="1e-3 1e-3 1e-3"/>
      </geometry>
    </collision>
    <inertial>
      <origin rpy="0.0 0.0 0.0" xyz="-0.012281312 0.0085635755 -0.0098601055"/>
      <mass value="0.072828309"/>
      <inertia ixx="5.1372649e-05" ixy="3.1322339e-06" ixz="-6.7000109e-06" iyy="3.9274299e-05" iyz="-6.3888236e-07" izz="2.549301e-05"/>
    </inertial>
  </link>
  <joint name="r_wrist_camera1_color_joint" type="fixed">
    <parent link="r_hand_palm_link"/>
    <child link="r_wrist_camera1_color_frame"/>
    <origin rpy="1.720623214417056 -1.040643822103889 0.5627814077055555" xyz="0.0475535 -0.02872279 0.00962709"/>
    <axis xyz="0 0 1"/>
  </joint>
  <link name="r_wrist_camera1_color_optical_frame"/>
  <joint name="r_wrist_camera1_color_optical_joint" type="fixed">
    <parent link="r_wrist_camera1_color_frame"/>
    <child link="r_wrist_camera1_color_optical_frame"/>
    <origin rpy="-1.5707963 0.0 -1.5707963" xyz="0.0 0.0 0.0"/>
    <axis xyz="0 0 1"/>
  </joint>
  <sensor name="r_wrist_camera1_color" type="camera" update_rate="60">
    <parent link="r_wrist_camera1_color_frame"/>
    <origin rpy="0 0 0" xyz="0 0 0"/>
    <camera>
      <image far="300" format="R8G8B8" height="1200" hfov="1.74358" near="0.05" width="1600"/>
    </camera>
  </sensor>
  <link name="r_wrist_camera2_color_frame"/>
  <joint name="r_wrist_camera2_color_joint" type="fixed">
    <parent link="r_wrist_camera1_color_optical_frame"/>
    <child link="r_wrist_camera2_color_frame"/>
    <origin rpy="0.0 -1.5707963 1.5707963" xyz="-0.02 0.0 0.0"/>
    <axis xyz="0 0 1"/>
  </joint>
  <link name="r_wrist_camera2_color_optical_frame"/>
  <joint name="r_wrist_camera2_color_optical_joint" type="fixed">
    <parent link="r_wrist_camera2_color_frame"/>
    <child link="r_wrist_camera2_color_optical_frame"/>
    <origin rpy="-1.5707963 0.0 -1.5707963" xyz="0.0 0.0 0.0"/>
    <axis xyz="0 0 1"/>
  </joint>
  <sensor name="r_wrist_camera2_color" type="camera" update_rate="60">
    <parent link="r_wrist_camera2_color_frame"/>
    <origin rpy="0 0 0" xyz="0 0 0"/>
    <camera>
      <image far="300" format="R8G8B8" height="1200" hfov="1.74358" near="0.05" width="1600"/>
    </camera>
  </sensor>
  <link name="head_imu_frame"/>
  <joint name="head_imu_joint" type="fixed">
    <parent link="head2_p_link"/>
    <child link="head_imu_frame"/>
    <origin rpy="-1.5707963 0.0 -1.5707963" xyz="0.10135 0.030741428 0.045873980003"/>
    <axis xyz="0 0 1"/>
  </joint>
  <sensor id="head_imu" name="head_imu" type="imu" update_rate="100.0">
    <parent link="head_imu_frame"/>
    <origin rpy="0 0 0" xyz="0 0 0"/>
  </sensor>
  <!-- ARM FTS-->
  <sensor id="l_arm_force_torque" name="l_arm_fts" type="force_torque" update_rate="100.0">
    <parent link="l_arm_force_sensor_link"/>
    <origin rpy="0 0 0" xyz="0 0 0"/>
    <force_torque frame="l_arm_force_torque" measure_direction="force torque sensor"/>
  </sensor>
  <sensor id="r_arm_force_torque" name="r_arm_fts" type="force_torque" update_rate="100.0">
    <parent link="r_arm_force_sensor_link"/>
    <origin rpy="0 0 0" xyz="0 0 0"/>
    <force_torque frame="r_arm_force_torque" measure_direction="force torque sensor"/>
  </sensor>
</robot>
